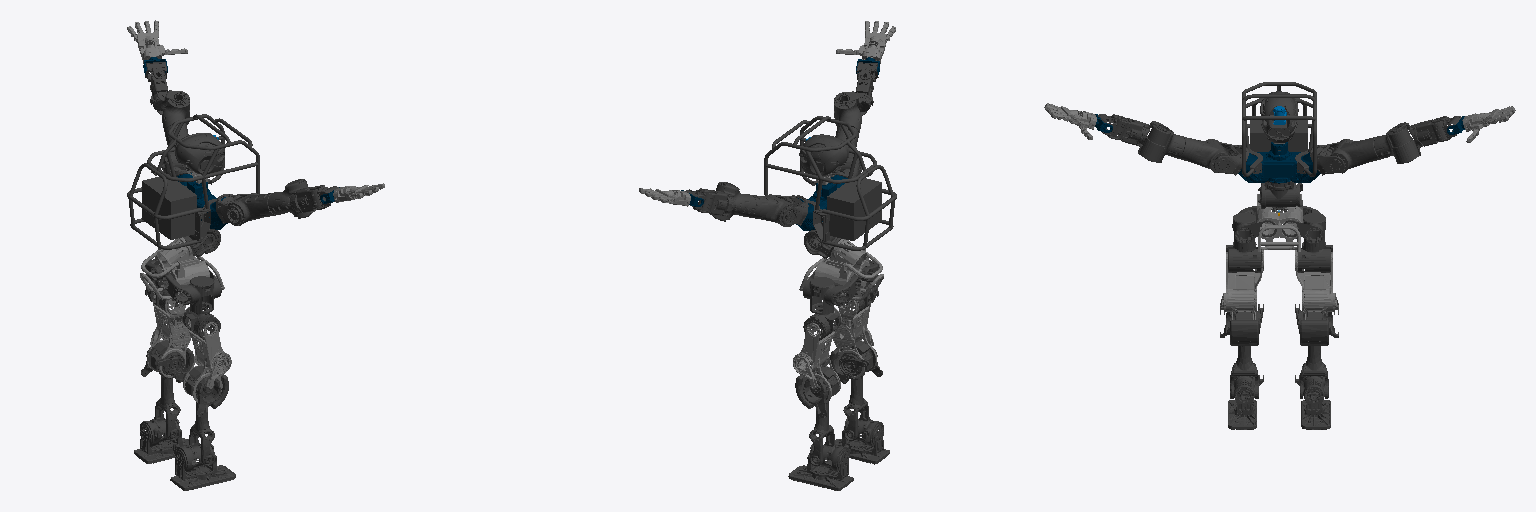
--- Render facts (derived) ---
Views: 3 orthographic renders of the robot side by side, from view 1: azimuth 30°, elevation 25°; view 2: azimuth 150°, elevation 25°; view 3: azimuth 270°, elevation 25°.
Robot: bigman — 74 links, 73 joints (31 revolute, 42 fixed); root link Waist; default pose: all joints at 0 but 2 set to mid-range because 0 is outside their limits (RShLat = -1.99, LShLat = 1.97).
Visible links, largest first — view 1: TorsoProtections, backpack, Waist, LLowLeg, RLowLeg, RThighLowLeg, LThighLowLeg, RHipMot, RFoot, multisense/head, LFoot, LSoftHandLink (+8 smaller); view 2: TorsoProtections, backpack, Waist, RLowLeg, LLowLeg, LThighLowLeg, RThighLowLeg, LHipMot, LFoot, multisense/head, RFoot, RSoftHandLink (+8 smaller); view 3: TorsoProtections, RLowLeg, LLowLeg, DWYTorso, Waist, RThighLowLeg, LThighLowLeg, multisense/head, RShy, LShy, RHipMot, LHipMot (+14 smaller).
Link boxes in pixels (x1=…): TorsoProtections: x1=127, y1=114, x2=259, y2=249; backpack: x1=142, y1=174, x2=196, y2=239; Waist: x1=140, y1=237, x2=224, y2=300; LLowLeg: x1=141, y1=340, x2=193, y2=440; RLowLeg: x1=173, y1=366, x2=228, y2=465; RThighLowLeg: x1=182, y1=307, x2=231, y2=402; LThighLowLeg: x1=147, y1=293, x2=190, y2=377; RHipMot: x1=163, y1=268, x2=221, y2=313; RFoot: x1=170, y1=449, x2=235, y2=490; multisense/head: x1=175, y1=133, x2=224, y2=174; LFoot: x1=134, y1=423, x2=188, y2=463; LSoftHandLink: x1=127, y1=20, x2=187, y2=63; TorsoProtections: x1=764, y1=116, x2=896, y2=250; backpack: x1=827, y1=176, x2=881, y2=240; Waist: x1=799, y1=239, x2=883, y2=300; RLowLeg: x1=830, y1=341, x2=882, y2=440; LLowLeg: x1=795, y1=366, x2=850, y2=466; LThighLowLeg: x1=793, y1=307, x2=841, y2=402; RThighLowLeg: x1=833, y1=294, x2=876, y2=378; LHipMot: x1=803, y1=271, x2=860, y2=314; LFoot: x1=788, y1=449, x2=853, y2=490; multisense/head: x1=799, y1=134, x2=848, y2=175; RFoot: x1=835, y1=424, x2=889, y2=464; RSoftHandLink: x1=836, y1=21, x2=895, y2=63; TorsoProtections: x1=1240, y1=82, x2=1317, y2=176; RLowLeg: x1=1220, y1=304, x2=1263, y2=398; LLowLeg: x1=1295, y1=304, x2=1338, y2=398; DWYTorso: x1=1238, y1=142, x2=1320, y2=183; Waist: x1=1255, y1=194, x2=1302, y2=251; RThighLowLeg: x1=1220, y1=250, x2=1263, y2=319; LThighLowLeg: x1=1295, y1=250, x2=1338, y2=319; multisense/head: x1=1260, y1=91, x2=1298, y2=142; RShy: x1=1140, y1=125, x2=1184, y2=162; LShy: x1=1374, y1=126, x2=1418, y2=163; RHipMot: x1=1232, y1=206, x2=1276, y2=251; LHipMot: x1=1282, y1=206, x2=1325, y2=251.
Bounding box of the posed robot: 0.8449 × 2.44 × 1.98 m (x, y, z).
Meshes: 23 distinct files referenced, 37 mesh visuals loaded (23 binary STL).

robot.urdf — bigman:
<?xml version="1.0" ?>
<!-- =================================================================================== -->
<!-- |    This document was autogenerated by xacro from bigman_robot.urdf.xacro        | -->
<!-- |    EDITING THIS FILE BY HAND IS NOT RECOMMENDED                                 | -->
<!-- =================================================================================== -->
<robot name="bigman" xmlns:xacro="http://ros.org/wiki/xacro">
  <!--
  ROS urdf definition of the BIGMAN humanoid robot by Istituto Italiano di Tecnologia
  
  Author: Enrico Mingo
  
  This file groups files to use BIGMAN in GAZEBO
  
  -->
  <!-- Uncomment this to have the robot rigidly connected to the world -->
  <!--link name="world"--> <!-- if you put mass/inertia to 0 for the base_link in pybullet then the robot will not be affected by gravity (i.e. it will float)>
    <inertial>
      <origin rpy="0.0 0.0 0.0" xyz="0.0 0.0 0.0"/>
      <mass value="0.0"/>
      <inertia ixx="0.0" ixy="0.0" ixz="0.0" iyy="0.0" iyz="0.0" izz="0.0"/>
    </inertial>
  </link>
  <joint name="floating_base" type="fixed">
    <parent link="world"/>
    <child link="base_link"/>
  </joint>
  <origin rpy="0 0 0" xyz="0.0 0.0 1.15"/-->
  <!-- ROBOT -->
  <!-- 
  ROS urdf definition of the BIGMAN humanoid robot by Istituto Italiano di Tecnologia
  
  DO NOT INCLUDE THIS FILE DIRECTLY! USE bigman_robot.urdf.xacro INSTEAD!

  Author: Enrico Mingo & Alessio Rocchi

  Inertial matrix has to be in CoM frame (URDF specs)

  Velocity and effort limits are fake!
-->
  <!-- Import all Gazebo-customization elements, including Gazebo colors -->
  <!-- contact model for foot surface -->
  <gazebo reference="LFoot">
    <kp>1000000.0</kp>
    <kd>100.0</kd>
    <mu1>1.0</mu1>
    <mu2>1.0</mu2>
    <fdir1>1 0 0</fdir1>
    <maxVel>1.0</maxVel>
    <minDepth>0.0</minDepth>
    <!--self_collide>true</self_collide-->
  </gazebo>
  <gazebo reference="RFoot">
    <kp>1000000.0</kp>
    <kd>100.0</kd>
    <mu1>1.0</mu1>
    <mu2>1.0</mu2>
    <fdir1>1 0 0</fdir1>
    <maxVel>1.0</maxVel>
    <minDepth>0.0</minDepth>
    <!--self_collide>true</self_collide-->
  </gazebo>
  <gazebo reference="LLowLeg">
    <kp>1000000.0</kp>
    <kd>100.0</kd>
    <mu1>0.3</mu1>
    <mu2>0.3</mu2>
    <fdir1>1 0 0</fdir1>
    <maxVel>1.0</maxVel>
    <minDepth>0.0</minDepth>
  </gazebo>
  <gazebo reference="RLowLeg">
    <kp>1000000.0</kp>
    <kd>100.0</kd>
    <mu1>0.3</mu1>
    <mu2>0.3</mu2>
    <fdir1>1 0 0</fdir1>
    <maxVel>1.0</maxVel>
    <minDepth>0.0</minDepth>
  </gazebo>
  <!-- contact model for hand surface -->
  <gazebo reference="LSoftHand">
    <kp>1000000.0</kp>
    <kd>100.0</kd>
    <mu1>1.0</mu1>
    <mu2>1.0</mu2>
    <fdir1>1 0 0</fdir1>
    <maxVel>1.0</maxVel>
    <minDepth>0.0</minDepth>
  </gazebo>
  <gazebo reference="RSoftHand">
    <kp>1000000.0</kp>
    <kd>100.0</kd>
    <mu1>1.0</mu1>
    <mu2>1.0</mu2>
    <fdir1>1 0 0</fdir1>
    <maxVel>1.0</maxVel>
    <minDepth>0.0</minDepth>
  </gazebo>
  <gazebo reference="LRaisingSupport">
    <kp>1000000.0</kp>
    <kd>100.0</kd>
    <mu1>0.5</mu1>
    <mu2>0.5</mu2>
    <fdir1>1 0 0</fdir1>
    <maxVel>1.0</maxVel>
    <minDepth>0.0</minDepth>
  </gazebo>
  <gazebo reference="RRaisingSupport">
    <kp>1000000.0</kp>
    <kd>100.0</kd>
    <mu1>0.5</mu1>
    <mu2>0.5</mu2>
    <fdir1>1 0 0</fdir1>
    <maxVel>1.0</maxVel>
    <minDepth>0.0</minDepth>
  </gazebo>
  <!-- Other parameters... -->
  <gazebo reference="RHipSag">
    <implicitSpringDamper>1</implicitSpringDamper>
    <provideFeedback>true</provideFeedback>
  </gazebo>
  <gazebo reference="RHipLat">
    <implicitSpringDamper>1</implicitSpringDamper>
    <provideFeedback>true</provideFeedback>
  </gazebo>
  <gazebo reference="RHipYaw">
    <implicitSpringDamper>1</implicitSpringDamper>
    <provideFeedback>true</provideFeedback>
  </gazebo>
  <gazebo reference="RKneeSag">
    <implicitSpringDamper>1</implicitSpringDamper>
    <provideFeedback>true</provideFeedback>
  </gazebo>
  <gazebo reference="RAnkLat">
    <implicitSpringDamper>1</implicitSpringDamper>
    <provideFeedback>true</provideFeedback>
  </gazebo>
  <gazebo reference="RAnkSag">
    <implicitSpringDamper>1</implicitSpringDamper>
    <provideFeedback>true</provideFeedback>
  </gazebo>
  <gazebo reference="LHipSag">
    <implicitSpringDamper>1</implicitSpringDamper>
    <provideFeedback>true</provideFeedback>
  </gazebo>
  <gazebo reference="LHipLat">
    <implicitSpringDamper>1</implicitSpringDamper>
    <provideFeedback>true</provideFeedback>
  </gazebo>
  <gazebo reference="LHipYaw">
    <implicitSpringDamper>1</implicitSpringDamper>
    <provideFeedback>true</provideFeedback>
  </gazebo>
  <gazebo reference="LKneeSag">
    <implicitSpringDamper>1</implicitSpringDamper>
    <provideFeedback>true</provideFeedback>
  </gazebo>
  <gazebo reference="LAnkLat">
    <implicitSpringDamper>1</implicitSpringDamper>
    <provideFeedback>true</provideFeedback>
  </gazebo>
  <gazebo reference="LAnkSag">
    <implicitSpringDamper>1</implicitSpringDamper>
    <provideFeedback>true</provideFeedback>
  </gazebo>
  <gazebo reference="WaistSag">
    <implicitSpringDamper>1</implicitSpringDamper>
    <provideFeedback>true</provideFeedback>
  </gazebo>
  <gazebo reference="WaistLat">
    <implicitSpringDamper>1</implicitSpringDamper>
    <provideFeedback>true</provideFeedback>
  </gazebo>
  <gazebo reference="WaistYaw">
    <implicitSpringDamper>1</implicitSpringDamper>
    <provideFeedback>true</provideFeedback>
  </gazebo>
  <gazebo reference="RShSag">
    <implicitSpringDamper>1</implicitSpringDamper>
    <provideFeedback>true</provideFeedback>
  </gazebo>
  <gazebo reference="RShLat">
    <implicitSpringDamper>1</implicitSpringDamper>
    <provideFeedback>true</provideFeedback>
  </gazebo>
  <gazebo reference="RShYaw">
    <implicitSpringDamper>1</implicitSpringDamper>
    <provideFeedback>true</provideFeedback>
  </gazebo>
  <gazebo reference="RElbj">
    <implicitSpringDamper>1</implicitSpringDamper>
    <provideFeedback>true</provideFeedback>
  </gazebo>
  <gazebo reference="RForearmPlate">
    <implicitSpringDamper>1</implicitSpringDamper>
    <provideFeedback>true</provideFeedback>
  </gazebo>
  <gazebo reference="RWrj1">
    <implicitSpringDamper>1</implicitSpringDamper>
    <provideFeedback>true</provideFeedback>
  </gazebo>
  <gazebo reference="RWrj2">
    <implicitSpringDamper>1</implicitSpringDamper>
    <provideFeedback>true</provideFeedback>
  </gazebo>
  <gazebo reference="LShSag">
    <implicitSpringDamper>1</implicitSpringDamper>
    <provideFeedback>true</provideFeedback>
  </gazebo>
  <gazebo reference="LShLat">
    <implicitSpringDamper>1</implicitSpringDamper>
    <provideFeedback>true</provideFeedback>
  </gazebo>
  <gazebo reference="LShYaw">
    <implicitSpringDamper>1</implicitSpringDamper>
    <provideFeedback>true</provideFeedback>
  </gazebo>
  <gazebo reference="LElbj">
    <implicitSpringDamper>1</implicitSpringDamper>
    <provideFeedback>true</provideFeedback>
  </gazebo>
  <gazebo reference="LForearmPlate">
    <implicitSpringDamper>1</implicitSpringDamper>
    <provideFeedback>true</provideFeedback>
  </gazebo>
  <gazebo reference="LWrj1">
    <implicitSpringDamper>1</implicitSpringDamper>
    <provideFeedback>true</provideFeedback>
  </gazebo>
  <gazebo reference="LWrj2">
    <implicitSpringDamper>1</implicitSpringDamper>
    <provideFeedback>true</provideFeedback>
  </gazebo>
  <!-- ************ MODEL CONFIGURATION ************ -->
  <!--
####################################################
##
##  BIGMAN_UPPER_BODY
##  if "true" the kinematic chains of the arms and torso 
##  will be used to generate the model
##
####################################################
-->
  <!--
####################################################
##
##  BIGMAN_LEGS
##  if "true" the kinematic chains of the legs
##  will be used to generate the model
##
####################################################
-->
  <!--
####################################################
##
##  BIGMAN_OLD_CHEST
##  if "true" the old version of the chest will be
##  used.
##  
##
####################################################
-->
  <!--
####################################################
##
##  BIGMAN_FIXED_HANDS
##  if "true" a fixed joint between wrist and hand 
##  will be used otherwise a rotative joints will
##  be used.
##  
##
####################################################
-->
  <!--
####################################################
##
##  BIGMAN_FIXED_MULTISENSE
##  if "true" a fixed joint between "head" and 
##  "hokuyo_link" will be used otherwise a continuous 
##  joints will be used.
##  
##
####################################################
-->
  <!--
####################################################
##
##  BIGMAN_HEAD
##  if "true" a fixed joint between "NeckPitch" and
##  "head" will be used to connect the head to the rest
##  of the body. If "false" the head will not be added 
##  to the model (this is the case when the multisense
##  from the launch file is used). 
##  
##
####################################################
-->
  <!--
####################################################
##
##  BIGMAN_ADD_PROTECTIONS
##  if "true" the protections are added to the model.
##  
##
####################################################
-->
  <!--
####################################################
##
##  BIGMAN_ADD_BACKPACK
##  if "true" the backpack is added to the model.
##  
##
####################################################
-->
  <!--
####################################################
##
##  BIGMAN_ADD_RAISING_SUPPORT
##  if "true" the raising support are added to the model.
##  
##
####################################################
-->
  <!--
####################################################
##
##  BIGMAN_NEW_FEET
##  if "true" the new feet with the joint in the middle
##  are used to the model.
##  
##
####################################################
-->
  <!--
####################################################
##
##  BIGMAN_SAFETY_JOINT_LIMITS_X
##  if "true" the more strict joint limits are used 
##  for the X part
##  
##
####################################################
-->
  <!-- ***********  MODEL COLORS *********** -->
  <material name="grey">
    <color rgba="0.5 0.5 0.5 1"/>
  </material>
  <material name="dark_grey">
    <color rgba="0.3 0.3 0.3 1"/>
  </material>
  <material name="blue">
    <color rgba="0.0 0.2 0.3 1"/>
  </material>
  <!-- ************ BIGMAN BASE ************** -->
  <!-- 
  ROS urdf definition of the BIGMAN humanoid robot by Istituto Italiano di Tecnologia
  
  DO NOT INCLUDE THIS FILE DIRECTLY! USE bigman_robot.urdf.xacro INSTEAD!

  Author: Enrico Mingo & Alessio Rocchi

  Inertial matrix has to be in CoM frame (URDF specs)

  Velocity and effort limits are fake!
-->
  <!--
The coordinate frame called base_link is rigidly attached to the robot root body. It is recommended to choose the robot waist as its root body. The base_link can be attached to the root in any arbitrary position or orientation; for every hardware platform there will be a different place on the base that provides an obvious point of reference. Note that REP 103 [1] specifies a preferred orientation for frames. -->
  <!--link name="base_link"/--> <!-- if you put mass/inertia to 0 for the base_link in pybullet then the robot will not be affected by gravity (i.e. it will float). Just removing the base_link fixes the problem. -->
  <link name="Waist">
    <inertial>
      <origin rpy="0.0 0.0 0.0" xyz="-0.022813402 -0.00073935443 0.030422909"/>
      <mass value="1.1046081e+01"/>
      <inertia ixx="0.096207978" ixy="0.00014081043" ixz="0.0031258127" iyy="0.098511158" iyz="0.00013938149" izz="0.086541531"/>
    </inertial>
    <visual>
      <origin rpy="0 0 0" xyz="0 0 0"/>
      <geometry name="Waist_visual">
        <mesh filename="meshes/Waist.STL" scale="0.001 0.001 0.001"/>
      </geometry>
      <material name="grey"/>
    </visual>
    <collision>
      <origin rpy="0 0 0" xyz="0 0 0"/>
      <geometry name="Waist_collision">
        <mesh filename="meshes/simple/Waist.STL" scale="0.001 0.001 0.001"/>
      </geometry>
    </collision>
  </link>
  <!--joint name="base_joint" type="fixed">
    <parent link="base_link"/>
    <child link="Waist"/>
    <origin rpy="0 0 0" xyz="0 0 0"/>
  </joint-->
  <!-- ********************TORSO******************** -->
  <!-- first real link of the robot, inertial reference frame -->
  <!-- Scale factor for meshes -->
  <!-- LINKS -->
  <!-- This links are defined in order to be compliant with http://www.ros.org/reps/rep-0120.html#coordinate-frames
and to define the end effectors of the robot-->
  <!-- The coordinate frame called torso is attached to the lowest body of the model which is a parent of l_gripper, r_gripper and gaze. -->
  <link name="torso">
    <inertial>
      <origin rpy="0 0 0" xyz="0 0 0"/>
      <mass value="0"/>
      <inertia ixx="0.0" ixy="0.0" ixz="0.0" iyy="0.0" iyz="0.0" izz="0.0"/>
    </inertial>
  </link> <!-- in pybullet, the inertia need to be specified even for dummy links, otherwise it will put an identity inertia and a mass of 1 by default -->
  <link name="DWL">
    <inertial>
      <origin rpy="0 0 0" xyz="-0.04610869 0.02232230 -0.02249514"/>
      <mass value="1.44965471"/>
      <inertia ixx="0.01096760" ixy="0.00111556" ixz="0.00030030" iyy="0.00409572" iyz="0.00054456" izz="0.01143795"/>
    </inertial>
    <visual>
      <origin rpy="0 0 0" xyz="0.0 0.0 0.0"/>
      <geometry name="DWL_visual">
        <mesh filename="meshes/TorsoRoll.STL" scale="0.001 0.001 0.001"/>
      </geometry>
      <material name="dark_grey"/>
    </visual>
    <collision>
      <origin rpy="0 0 0" xyz="0.0 0.0 0.0"/>
      <geometry name="DWL_collision">
        <mesh filename="meshes/simple/TorsoRoll.STL" scale="0.001 0.001 0.001"/>
      </geometry>
    </collision>
  </link>
  <link name="DWS">
    <inertial>
      <origin rpy="0 0 0" xyz="0.00010203 0.00928164 0.08113610"/>
      <mass value="5.28825567"/>
      <inertia ixx="0.01628069" ixy="-0.00000323" ixz="0.00001424" iyy="0.01424286" iyz="0.00075458" izz="0.00994169"/>
    </inertial>
    <visual>
      <origin rpy="0 0 0" xyz="0.0 0.0 0.0"/>
      <geometry name="DWS_visual">
        <mesh filename="meshes/TorsoYawPitch.STL" scale="0.001 0.001 0.001"/>
      </geometry>
      <material name="dark_grey"/>
    </visual>
    <collision>
      <origin rpy="0 0 0" xyz="0.0 0.0 0.0"/>
      <geometry name="DWS_collision">
        <mesh filename="meshes/simple/TorsoYawPitch.STL" scale="0.001 0.001 0.001"/>
      </geometry>
    </collision>
  </link>
  <link name="DWYTorso">
    <inertial>
      <origin rpy="0 0 0" xyz="0.0 0.0 0.3"/>
      <mass value="26"/>
      <inertia ixx="0.18629757" ixy="0.00008160" ixz="0.00030250" iyy="0.02013829" iyz="-0.00001790" izz="0.18850541"/>
    </inertial>
    <visual>
      <origin rpy="0 0 0" xyz="0.0 0.0 0.0"/>
      <geometry name="DWYTorso_visual">
        <mesh filename="meshes/NewChest.STL" scale="0.001 0.001 0.001"/>
      </geometry>
      <material name="blue"/>
    </visual>
    <collision>
      <origin rpy="0 0 0" xyz="0.0 0.0 0.0"/>
      <geometry name="DWYTorso_collision">
        <mesh filename="meshes/simple/NewChest.STL" scale="0.001 0.001 0.001"/>
      </geometry>
    </collision>
  </link>
  <!-- UPDATE DATA FOR TORSO PROTECTION! -->
  <link name="TorsoProtections">
    <inertial>
      <origin rpy="0 0 0" xyz="-0.082963193 7.0747291e-07 0.075409106"/>
      <mass value="4.7"/>
      <inertia ixx="0.14773769" ixy="0.0" ixz="-0.029780072" iyy="0.16085511" iyz="0.0" izz="0.15409381"/>
    </inertial>
    <visual>
      <origin rpy="0 0 0" xyz="0.0 0.0 0.0"/>
      <geometry name="TorsoProtections_visual">
        <mesh filename="meshes/ProtectionSystem.STL" scale="0.001 0.001 0.001"/>
      </geometry>
      <material name="dark_grey"/>
    </visual>
    <collision>
      <origin rpy="0 0 0" xyz="0.0 0.0 0.0"/>
      <geometry name="TorsoProtections_collision">
        <mesh filename="meshes/simple/ProtectionSystem.STL" scale="0.001 0.001 0.001"/>
      </geometry>
    </collision>
  </link>
  <!-- UPDATE DATA FOR TORSO PROTECTION! -->
  <link name="backpack">
    <inertial>
      <origin rpy="0 0 0" xyz="0 0 -0.065"/>
      <mass value="10.0"/>
      <inertia ixx="0.0890833333333" ixy="0.0" ixz="0.0" iyy="0.0354166666667" iyz="0.0" izz="0.0963333333333"/>
    </inertial>
    <visual>
      <origin rpy="0 0 0" xyz="0.0 0.0 0.0"/>
      <geometry name="backpack_visual">
        <box size="0.16 0.3 0.22"/>
      </geometry>
      <material name="dark_grey"/>
    </visual>
    <collision>
      <origin rpy="0 0 0" xyz="0.0 0.0 0.0"/>
      <geometry name="backpack_collision">
        <box size="0.16 0.3 0.22"/>
      </geometry>
    </collision>
  </link>
  <!-- JOINTS -->
  <joint name="backpack_joint" type="fixed">
    <parent link="DWYTorso"/>
    <child link="backpack"/>
    <origin rpy="0 0 0" xyz="-0.185 0 -0.025"/>
  </joint>
  <joint name="torso_protection_joint" type="fixed">
    <parent link="DWYTorso"/>
    <child link="TorsoProtections"/>
    <origin rpy="0 0 0" xyz="0.0 0 0.0"/>
  </joint>
  <joint name="torso_joint" type="fixed">
    <parent link="DWYTorso"/>
    <child link="torso"/>
    <origin rpy="0 0 0" xyz="0.0 0 0.0"/>
  </joint>
  <joint name="WaistLat" type="revolute">
    <parent link="Waist"/>
    <child link="DWL"/>
    <origin rpy="0 0 0" xyz="0.1115 0 0.195982"/>
    <axis xyz="0.89879991307 0 0.43835911792"/>
    <limit effort="500" lower="-0.610865238196" upper="0.610865238196" velocity="6.283"/>
    <dynamics damping="3.0" friction="0"/>
  </joint>
  <joint name="WaistSag" type="revolute">
    <parent link="DWL"/>
    <child link="DWS"/>
    <origin rpy="0 0 0" xyz="0 0 0"/>
    <axis xyz="0 1 0"/>
    <limit effort="500" lower="-0.349065850398" upper="1.39626340159" velocity="6.283"/>
    <dynamics damping="3.0" friction="0"/>
  </joint>
  <joint name="WaistYaw" type="revolute">
    <parent link="DWS"/>
    <child link="DWYTorso"/>
    <origin rpy="0 0 0" xyz="0 0 0.22275"/>
    <axis xyz="0 0 1"/>
    <limit effort="500" lower="-2.84488668074" upper="2.84488668074" velocity="6.283"/>
    <dynamics damping="3.0" friction="0"/>
  </joint>
  <!-- ********************NECK********************* -->
  <!-- LINKS -->
  <link name="NeckYaw">
    <inertial>
      <origin rpy="0 0 0" xyz="0.0 0.0 0.1155"/>
      <mass value="0.35"/>
      <inertia ixx="0.00032840119" ixy="0.0" ixz="0.0" iyy="7.0371675e-05" iyz="0.0" izz="0.00032840111"/>
    </inertial>
    <visual>
      <origin rpy="0 0 0" xyz="0.0 0.0 0.0"/>
      <geometry name="NeckYaw_visual">
        <mesh filename="meshes/NeckYaw.STL" scale="0.001 0.001 0.001"/>
      </geometry>
      <material name="grey"/>
    </visual>
    <collision>
      <origin rpy="0 0 0" xyz="0.0 0.0 0.0"/>
      <geometry name="NeckYaw_collision">
        <mesh filename="meshes/simple/NeckYaw.STL" scale="0.001 0.001 0.001"/>
      </geometry>
    </collision>
  </link>
  <link name="NeckPitch">
    <inertial>
      <origin rpy="0 0 0" xyz="-0.102 0.0 0.26575"/>
      <mass value="0.623"/>
      <inertia ixx="0.0010388333" ixy="0.0" ixz="0.0" iyy="0.00054689381" iyz="0.0" izz="0.00054689381"/>
    </inertial>
    <visual>
      <origin rpy="0 0 0" xyz="0.0 0.0 0.0"/>
      <geometry name="NeckPitch_visual">
        <mesh filename="meshes/NeckPitch.STL" scale="0.001 0.001 0.001"/>
      </geometry>
      <material name="grey"/>
    </visual>
    <collision>
      <origin rpy="0 0 0" xyz="0.0 0.0 0.0"/>
      <geometry name="NeckPitch_collision">
        <mesh filename="meshes/simple/NeckPitch.STL" scale="0.001 0.001 0.001"/>
      </geometry>
    </collision>
  </link>
  <!-- JOINTS -->
  <joint name="NeckYawj" type="revolute">
    <parent link="DWYTorso"/>
    <child link="NeckYaw"/>
    <origin rpy="0 0 0" xyz="0 0 0"/>
    <axis xyz="0 0 1"/>
    <!--     <limit velocity="6.283" effort="120" lower="${(-175.0)*toRad}" upper="${(175.0)*toRad}" /> -->
    <limit effort="120" lower="-0.610865238196" upper="0.610865238196" velocity="6.283"/>
    <dynamics damping="0.7" friction="0"/>
  </joint>
  <joint name="NeckPitchj" type="revolute">
    <parent link="NeckYaw"/>
    <child link="NeckPitch"/>
    <origin rpy="0 0 0" xyz="0 0 0.1155"/>
    <axis xyz="0 1 0"/>
    <!--limit velocity="6.283" effort="120" lower="${(-30.0)*toRad}" upper="${(70.0)*toRad}" /-->
    <limit effort="120" lower="-0.261799387798" upper="1.04719755119" velocity="6.283"/>
    <dynamics damping="0.7" friction="0"/>
  </joint>
  <!-- ********************LEGS******************** -->
  <!-- This links are defined in order to be compliant with http://www.ros.org/reps/rep-0120.html#coordinate-frames
	and to define the end effectors of the robot -->
  <!--  position and orientation of the leg regardless of the support body geometry -->
  <link name="l_ankle">
    <inertial>
      <origin rpy="0 0 0" xyz="0 0 0"/>
      <mass value="0"/>
      <inertia ixx="0.0" ixy="0.0" ixz="0.0" iyy="0.0" iyz="0.0" izz="0.0"/>
    </inertial>
  </link> <!-- in pybullet, the inertia need to be specified even for dummy links, otherwise it will put an identity inertia and a mass of 1 by default -->
  <link name="r_ankle">
    <inertial>
      <origin rpy="0 0 0" xyz="0 0 0"/>
      <mass value="0"/>
      <inertia ixx="0.0" ixy="0.0" ixz="0.0" iyy="0.0" iyz="0.0" izz="0.0"/>
    </inertial>
  </link> <!-- in pybullet, the inertia need to be specified even for dummy links, otherwise it will put an identity inertia and a mass of 1 by default -->
  <!-- position and orientation of the left leg support body. The (X,Y) plane of this frame must be coplanar with the support body contact surface. It is recommended to choose the origin as the projection of the support body origin on the contact surface. The Z coordinate of this frame should be on the ground level when standing. -->
  <link name="l_sole">
    <inertial>
      <origin rpy="0 0 0" xyz="0 0 0"/>
      <mass value="0"/>
      <inertia ixx="0.0" ixy="0.0" ixz="0.0" iyy="0.0" iyz="0.0" izz="0.0"/>
    </inertial>
  </link> <!-- in pybullet, the inertia need to be specified even for dummy links, otherwise it will put an identity inertia and a mass of 1 by default -->
  <link name="r_sole">
    <inertial>
      <origin rpy="0 0 0" xyz="0 0 0"/>
      <mass value="0"/>
      <inertia ixx="0.0" ixy="0.0" ixz="0.0" iyy="0.0" iyz="0.0" izz="0.0"/>
    </inertial>
  </link> <!-- in pybullet, the inertia need to be specified even for dummy links, otherwise it will put an identity inertia and a mass of 1 by default -->
  <!--  position and orientation of the leg toe body. The (X,Y) plan of this frame must be coplanar with the toe body contact surface. It is recommended to choose the origin as the projection of the body center on the contact surface. -->
  <link name="l_toe">
    <inertial>
      <origin rpy="0 0 0" xyz="0 0 0"/>
      <mass value="0"/>
      <inertia ixx="0.0" ixy="0.0" ixz="0.0" iyy="0.0" iyz="0.0" izz="0.0"/>
    </inertial>
  </link> <!-- in pybullet, the inertia need to be specified even for dummy links, otherwise it will put an identity inertia and a mass of 1 by default -->
  <link name="r_toe">
    <inertial>
      <origin rpy="0 0 0" xyz="0 0 0"/>
      <mass value="0"/>
      <inertia ixx="0.0" ixy="0.0" ixz="0.0" iyy="0.0" iyz="0.0" izz="0.0"/>
    </inertial>
  </link> <!-- in pybullet, the inertia need to be specified even for dummy links, otherwise it will put an identity inertia and a mass of 1 by default -->
  <!-- LINKS -->
  <!-- ********************RIGHT LEG******************** -->
  <link name="RHipMot">
    <inertial>
      <origin rpy="0 0 0" xyz="-0.10348188 -0.10919813 -0.064924056"/>
      <mass value="3.7958197"/>
      <inertia ixx="0.015639017" ixy="0.0018504661" ixz="0.0023907793" iyy="0.023519749" iyz="-0.0023303162" izz="0.020953643"/>
    </inertial>
    <visual>
      <origin rpy="0 0 0" xyz="0 0 0"/>
      <geometry name="RHipMot_visual">
        <mesh filename="meshes/HipRoll.STL" scale="0.001 0.001 0.001"/>
      </geometry>
      <material name="dark_grey"/>
    </visual>
    <collision>
      <origin rpy="0 0 0" xyz="0 0 0"/>
      <geometry name="RHipMot_collision">
        <mesh filename="meshes/simple/HipRoll.STL" scale="0.001 0.001 0.001"/>
      </geometry>
    </collision>
  </link>
  <link name="RThighUpLeg">
    <inertial>
      <origin rpy="0 0 0" xyz="-0.0052929709 -0.022561833 0.0056701669"/>
      <mass value="3.2402068"/>
      <inertia ixx="0.010102097" ixy="0.00010858487" ixz="0.00025291395" iyy="0.0067147" iyz="8.3447072e-05" izz="0.01048513"/>
    </inertial>
    <visual>
      <origin rpy="0 0 0" xyz="0 0 0"/>
      <geometry name="RThighUpLeg_visual">
        <mesh filename="meshes/HipYaw.STL" scale="0.001 0.001 0.001"/>
      </geometry>
      <material name="dark_grey"/>
    </visual>
    <collision>
      <origin rpy="0 0 0" xyz="0 0 0"/>
      <geometry name="RThighUpLeg_collision">
        <mesh filename="meshes/simple/HipYaw.STL" scale="0.001 0.001 0.001"/>
      </geometry>
    </collision>
  </link>
  <link name="RThighLowLeg">
    <inertial>
      <origin rpy="0 0 0" xyz="0.037746286 -0.028539939 -0.19310133"/>
      <mass value="5.0950736"/>
      <inertia ixx="0.051607858" ixy="0.0022253472" ixz="0.002452979" iyy="0.044349153" iyz="-0.0041006942" izz="0.023374453"/>
    </inertial>
    <visual>
      <origin rpy="0 0 0" xyz="0 0 0"/>
      <geometry name="RThighLowLeg_visual">
        <mesh filename="meshes/HipPitch.STL" scale="0.001 0.001 0.001"/>
      </geometry>
      <material name="grey"/>
    </visual>
    <collision>
      <origin rpy="0 0 0" xyz="0 0 0"/>
      <geometry name="RThighLowLeg_collision">
        <mesh filename="meshes/simple/HipPitch.STL" scale="0.001 0.001 0.001"/>
      </geometry>
    </collision>
  </link>
  <link name="RLowLeg">
    <inertial>
      <origin rpy="0 0 0" xyz="-0.0050828668 0.0037732093 -0.072605017"/>
      <mass value="5.6495309"/>
      <inertia ixx="0.10535542" ixy="-0.00058199221" ixz="0.0016743598" iyy="0.097857796" iyz="-0.0033770181" izz="0.020854086"/>
    </inertial>
    <visual>
      <origin rpy="0 0 0" xyz="0 0 0"/>
      <geometry name="RLowLeg_visual">
        <mesh filename="meshes/KneePitchCalf.STL" scale="0.001 0.001 0.001"/>
      </geometry>
      <material name="dark_grey"/>
    </visual>
    <collision>
      <origin rpy="0 0 0" xyz="0 0 0"/>
      <geometry name="RLowLeg_collision">
        <mesh filename="meshes/simple/KneePitchCalf.STL" scale="0.001 0.001 0.001"/>
      </geometry>
    </collision>
  </link>
  <link name="RFootmot">
    <inertial>
      <origin rpy="0 0 0" xyz="-0.022024173 0.0025677238 0.00094588455"/>
      <mass value="3.2844159"/>
      <inertia ixx="0.0075550679" ixy="0.00067488292" ixz="5.8332889e-05" iyy="0.011241163" iyz="-0.00014552081" izz="0.013391865"/>
    </inertial>
    <visual>
      <origin rpy="0 0 0" xyz="0 0 0"/>
      <geometry name="RFootmot_visual">
        <mesh filename="meshes/AnklePitch.STL" scale="0.001 0.001 0.001"/>
      </geometry>
      <material name="dark_grey"/>
    </visual>
    <collision>
      <origin rpy="0 0 0" xyz="0 0 0"/>
      <geometry name="RFootmot_collision">
        <mesh filename="meshes/simple/AnklePitch.STL" scale="0.001 0.001 0.001"/>
      </geometry>
    </collision>
  </link>
  <link name="RFoot">
    <inertial>
      <origin rpy="0 0 0" xyz="-0.00653584 -0.00479384 -0.10180375"/>
      <mass value="3.42638110"/>
      <inertia ixx="0.01032886" ixy="-0.00016407" ixz="-0.00201294" iyy="0.02854025" iyz="0.00046315" izz="0.02799499"/>
    </inertial>
    <visual>
      <origin rpy="0 0 0" xyz="0 0 0"/>
      <geometry name="RFoot_visual">
        <mesh filename="meshes/NewFoot.STL" scale="0.001 0.001 0.001"/>
      </geometry>
      <material name="dark_grey"/>
    </visual>
    <collision>
      <!--<origin xyz="0 0 0" rpy="0 0 0"/>
      <geometry name="RFoot_collision">
        <mesh filename="meshes/simple/Foot.STL" scale="0.001 -0.001 0.001"/>
      </geometry>-->
      <origin rpy="0 0 0" xyz="0.005 -0.01 -0.1359"/>
      <geometry>
        <box size="0.32 0.16 0.015"/>
      </geometry>
    </collision>
  </link>
  <!-- ********************LEFT LEG******************** -->
  <link name="LHipMot">
    <inertial>
      <origin rpy="0 0 0" xyz="-0.10348188 0.10919813 -0.064924056"/>
      <mass value="3.7958197"/>
      <inertia ixx="0.015639017" ixy="-0.0018504661" ixz="0.0023907793" iyy="0.023519749" iyz="0.0023303162" izz="0.020953643"/>
    </inertial>
    <visual>
      <origin rpy="0 0 0" xyz="0 0 0"/>
      <geometry name="LHipMot_visual">
        <mesh filename="meshes/HipRoll.STL" scale="0.001 -0.001 0.001"/>
      </geometry>
      <material name="dark_grey"/>
    </visual>
    <collision>
      <origin rpy="0 0 0" xyz="0 0 0"/>
      <geometry name="LHipMot_collision">
        <mesh filename="meshes/simple/HipRoll.STL" scale="0.001 -0.001 0.001"/>
      </geometry>
    </collision>
  </link>
  <link name="LThighUpLeg">
    <inertial>
      <origin rpy="0 0 0" xyz="-0.0052929709 0.022561833 0.0056701669"/>
      <mass value="3.2402068"/>
      <inertia ixx="0.010102097" ixy="-0.00010858487" ixz="0.00025291395" iyy="0.0067147" iyz="-8.3447072e-05" izz="0.01048513"/>
    </inertial>
    <visual>
      <origin rpy="0 0 0" xyz="0 0 0"/>
      <geometry name="LThighUpLeg_visual">
        <mesh filename="meshes/HipYaw.STL" scale="0.001 -0.001 0.001"/>
      </geometry>
      <material name="dark_grey"/>
    </visual>
    <collision>
      <origin rpy="0 0 0" xyz="0 0 0"/>
      <geometry name="LThighUpLeg_collision">
        <mesh filename="meshes/simple/HipYaw.STL" scale="0.001 -0.001 0.001"/>
      </geometry>
    </collision>
  </link>
  <link name="LThighLowLeg">
    <inertial>
      <origin rpy="0 0 0" xyz="0.037746286 0.028539939 -0.19310133"/>
      <mass value="5.0950736"/>
      <inertia ixx="0.051607858" ixy="-0.0022253472" ixz="0.002452979" iyy="0.044349153" iyz="0.0041006942" izz="0.023374453"/>
    </inertial>
    <visual>
      <origin rpy="0 0 0" xyz="0 0 0"/>
      <geometry name="LThighLowLeg_visual">
        <mesh filename="meshes/HipPitch.STL" scale="0.001 -0.001 0.001"/>
      </geometry>
      <material name="grey"/>
    </visual>
    <collision>
      <origin rpy="0 0 0" xyz="0 0 0"/>
      <geometry name="LThighLowLeg_collision">
        <mesh filename="meshes/simple/HipPitch.STL" scale="0.001 -0.001 0.001"/>
      </geometry>
    </collision>
  </link>
  <link name="LLowLeg">
    <inertial>
      <origin rpy="0 0 0" xyz="-0.0050828668 -0.0037732093 -0.072605017"/>
      <mass value="5.6495309"/>
      <inertia ixx="0.10535542" ixy="0.00058199221" ixz="0.0016743598" iyy="0.097857796" iyz="0.0033770181" izz="0.020854086"/>
    </inertial>
    <visual>
      <origin rpy="0 0 0" xyz="0 0 0"/>
      <geometry name="LLowLeg_visual">
        <mesh filename="meshes/KneePitchCalf.STL" scale="0.001 -0.001 0.001"/>
      </geometry>
      <material name="dark_grey"/>
    </visual>
    <collision>
      <origin rpy="0 0 0" xyz="0 0 0"/>
      <geometry name="LLowLeg_collision">
        <mesh filename="meshes/simple/KneePitchCalf.STL" scale="0.001 -0.001 0.001"/>
      </geometry>
    </collision>
  </link>
  <link name="LFootmot">
    <inertial>
      <origin rpy="0 0 0" xyz="-0.022024173 -0.0025677238 0.00094588455"/>
      <mass value="3.2844159"/>
      <inertia ixx="0.0075550679" ixy="-0.00067488292" ixz="5.8332889e-05" iyy="0.011241163" iyz="0.00014552081" izz="0.013391865"/>
    </inertial>
    <visual>
      <origin rpy="0 0 0" xyz="0 0 0"/>
      <geometry name="LFootmot_visual">
        <mesh filename="meshes/AnklePitch.STL" scale="0.001 -0.001 0.001"/>
      </geometry>
      <material name="dark_grey"/>
    </visual>
    <collision>
      <origin rpy="0 0 0" xyz="0 0 0"/>
      <geometry name="LFootmot_collision">
        <mesh filename="meshes/simple/AnklePitch.STL" scale="0.001 -0.001 0.001"/>
      </geometry>
    </collision>
  </link>
  <link name="LFoot">
    <inertial>
      <origin rpy="0 0 0" xyz="-0.00653584 0.00479384 -0.10180375"/>
      <mass value="3.42638110"/>
      <inertia ixx="0.01032886" ixy="-0.00016407" ixz="-0.00201294" iyy="0.02854025" iyz="0.00046315" izz="0.02799499"/>
    </inertial>
    <visual>
      <origin rpy="0 0 0" xyz="0 0 0"/>
      <geometry name="LFoot_visual">
        <mesh filename="meshes/NewFoot.STL" scale="0.001 -0.001 0.001"/>
      </geometry>
      <material name="dark_grey"/>
    </visual>
    <collision>
      <!--
      <origin xyz="0 0 0" rpy="0 0 0"/>
      <geometry name="LFoot_collision">
        <mesh filename="meshes/simple/Foot.STL" scale="0.001 0.001 0.001"/>
      </geometry>
      -->
      <origin rpy="0 0 0" xyz="0.005 0.01 -0.1359"/>
      <geometry>
        <box size="0.32 0.16 0.015"/>
      </geometry>
    </collision>
  </link>
  <!-- JOINTS -->
  <!-- ********************RIGHT LEG******************** -->
  <joint name="RHipLat" type="revolute">
    <parent link="Waist"/>
    <child link="RHipMot"/>
    <origin rpy="0 0 0" xyz="0.1059 -0.06 0.0"/>
    <axis xyz="1 0 0"/>
    <limit effort="220" lower="-0.87222" upper="0.697778" velocity="6.283"/>
    <dynamics damping="3.0" friction="0"/>
  </joint>
  <joint name="RHipYaw" type="revolute">
    <parent link="RHipMot"/>
    <child link="RThighUpLeg"/>
    <origin rpy="0 0 0" xyz="-0.0889 -0.121032 -0.217872"/>
    <axis xyz="0 0 1"/>
    <limit effort="120" lower="-1.57" upper="0.872222" velocity="6.283"/>
    <dynamics damping="3.0" friction="0"/>
  </joint>
  <joint name="RHipSag" type="revolute">
    <parent link="RThighUpLeg"/>
    <child link="RThighLowLeg"/>
    <origin rpy="0 0 0" xyz="0.0 0.0 0.0"/>
    <axis xyz="0 1 0"/>
    <limit effort="220" lower="-2.09333" upper="1.046667" velocity="6.283"/>
    <dynamics damping="3.0" friction="0"/>
  </joint>
  <joint name="RKneeSag" type="revolute">
    <parent link="RThighLowLeg"/>
    <child link="RLowLeg"/>
    <origin rpy="0 0 0" xyz="0.0 0.0 -0.356"/>
    <axis xyz="0 1 0"/>
    <limit effort="220" lower="0.0" upper="2.442222" velocity="6.283"/>
    <dynamics damping="3.0" friction="0"/>
  </joint>
  <joint name="RAnkSag" type="revolute">
    <parent link="RLowLeg"/>
    <child link="RFootmot"/>
    <origin rpy="0 0 0" xyz="0.0 0.0 -0.4"/>
    <axis xyz="0 1 0"/>
    <limit effort="220" lower="-1.39556" upper="0.697778" velocity="6.283"/>
    <dynamics damping="3.0" friction="0"/>
  </joint>
  <joint name="RAnkLat" type="revolute">
    <parent link="RFootmot"/>
    <child link="RFoot"/>
    <origin rpy="0 0 0" xyz="0.0 0.0 0.0"/>
    <axis xyz="1 0 0"/>
    <limit effort="120" lower="-0.785" upper="0.785" velocity="6.283"/>
    <dynamics damping="3.0" friction="0"/>
  </joint>
  <!-- ********************LEFT LEG******************** -->
  <joint name="LHipLat" type="revolute">
    <parent link="Waist"/>
    <child link="LHipMot"/>
    <origin rpy="0 0 0" xyz="0.1059 0.06 0.0"/>
    <axis xyz="1 0 0"/>
    <limit effort="220" lower="-0.697778" upper="0.87222" velocity="6.283"/>
    <dynamics damping="3.0" friction="0"/>
  </joint>
  <joint name="LHipYaw" type="revolute">
    <parent link="LHipMot"/>
    <child link="LThighUpLeg"/>
    <origin rpy="0 0 0" xyz="-0.0889 0.121032 -0.217872"/>
    <axis xyz="0 0 1"/>
    <limit effort="120" lower="-0.872222" upper="1.57" velocity="6.283"/>
    <dynamics damping="3.0" friction="0"/>
  </joint>
  <joint name="LHipSag" type="revolute">
    <parent link="LThighUpLeg"/>
    <child link="LThighLowLeg"/>
    <origin rpy="0 0 0" xyz="0.0 0.0 0.0"/>
    <axis xyz="0 1 0"/>
    <limit effort="220" lower="-2.09333" upper="1.046667" velocity="6.283"/>
    <dynamics damping="3.0" friction="0"/>
  </joint>
  <joint name="LKneeSag" type="revolute">
    <parent link="LThighLowLeg"/>
    <child link="LLowLeg"/>
    <origin rpy="0 0 0" xyz="0.0 0.0 -0.356"/>
    <axis xyz="0 1 0"/>
    <limit effort="220" lower="0.0" upper="2.442222" velocity="6.283"/>
    <dynamics damping="3.0" friction="0"/>
  </joint>
  <joint name="LAnkSag" type="revolute">
    <parent link="LLowLeg"/>
    <child link="LFootmot"/>
    <origin rpy="0 0 0" xyz="0.0 0.0 -0.4"/>
    <axis xyz="0 1 0"/>
    <limit effort="220" lower="-1.39556" upper="0.697778" velocity="6.283"/>
    <dynamics damping="3.0" friction="0"/>
  </joint>
  <joint name="LAnkLat" type="revolute">
    <parent link="LFootmot"/>
    <child link="LFoot"/>
    <origin rpy="0 0 0" xyz="0.0 0.0 0.0"/>
    <axis xyz="1 0 0"/>
    <limit effort="120" lower="-0.785" upper="0.785" velocity="6.283"/>
    <dynamics damping="3.0" friction="0"/>
  </joint>
  <joint name="l_ankle_joint" type="fixed">
    <parent link="LFoot"/>
    <child link="l_ankle"/>
    <origin rpy="0 0 0" xyz="0 0 0"/>
  </joint>
  <joint name="r_ankle_joint" type="fixed">
    <parent link="RFoot"/>
    <child link="r_ankle"/>
    <origin rpy="0 0 0" xyz="0 0 0"/>
  </joint>
  <joint name="l_sole_joint" type="fixed">
    <parent link="LFoot"/>
    <child link="l_sole"/>
    <origin rpy="0 0 0" xyz="0 0 -0.1435"/>
  </joint>
  <joint name="r_sole_joint" type="fixed">
    <parent link="RFoot"/>
    <child link="r_sole"/>
    <origin rpy="0 0 0" xyz="0 0 -0.1435"/>
  </joint>
  <joint name="l_toe_joint" type="fixed">
    <parent link="l_sole"/>
    <child link="l_toe"/>
    <origin rpy="0 0 0" xyz="0.16 0 0"/>
  </joint>
  <joint name="r_toe_joint" type="fixed">
    <parent link="r_sole"/>
    <child link="r_toe"/>
    <origin rpy="0 0 0" xyz="0.16 0 0"/>
  </joint>
  <!-- Reference frames in feet -->
  <!-- macro for reference frames in foot -->
  <!-- macro for one reference frame in foot -->
  <link name="l_foot_upper_right_link">
    <inertial>
      <origin rpy="0 0 0" xyz="0 0 0"/>
      <mass value="0"/>
      <inertia ixx="0.0" ixy="0.0" ixz="0.0" iyy="0.0" iyz="0.0" izz="0.0"/>
    </inertial>
  </link> <!-- in pybullet, the inertia need to be specified even for dummy links, otherwise it will put an identity inertia and a mass of 1 by default -->
  <joint name="l_foot_upper_right_joint" type="fixed">
    <origin rpy="0 0 0" xyz="0.16 -0.07 0"/>
    <parent link="l_sole"/>
    <child link="l_foot_upper_right_link"/>
  </joint>
  <!-- macro for one reference frame in foot -->
  <link name="l_foot_upper_left_link">
    <inertial>
      <origin rpy="0 0 0" xyz="0 0 0"/>
      <mass value="0"/>
      <inertia ixx="0.0" ixy="0.0" ixz="0.0" iyy="0.0" iyz="0.0" izz="0.0"/>
    </inertial>
  </link> <!-- in pybullet, the inertia need to be specified even for dummy links, otherwise it will put an identity inertia and a mass of 1 by default -->
  <joint name="l_foot_upper_left_joint" type="fixed">
    <origin rpy="0 0 0" xyz="0.16 0.09 0"/>
    <parent link="l_sole"/>
    <child link="l_foot_upper_left_link"/>
  </joint>
  <!-- macro for one reference frame in foot -->
  <link name="l_foot_lower_right_link">
    <inertial>
      <origin rpy="0 0 0" xyz="0 0 0"/>
      <mass value="0"/>
      <inertia ixx="0.0" ixy="0.0" ixz="0.0" iyy="0.0" iyz="0.0" izz="0.0"/>
    </inertial>
  </link> <!-- in pybullet, the inertia need to be specified even for dummy links, otherwise it will put an identity inertia and a mass of 1 by default -->
  <joint name="l_foot_lower_right_joint" type="fixed">
    <origin rpy="0 0 0" xyz="-0.16 -0.07 0"/>
    <parent link="l_sole"/>
    <child link="l_foot_lower_right_link"/>
  </joint>
  <!-- macro for one reference frame in foot -->
  <link name="l_foot_lower_left_link">
    <inertial>
      <origin rpy="0 0 0" xyz="0 0 0"/>
      <mass value="0"/>
      <inertia ixx="0.0" ixy="0.0" ixz="0.0" iyy="0.0" iyz="0.0" izz="0.0"/>
    </inertial>
  </link> <!-- in pybullet, the inertia need to be specified even for dummy links, otherwise it will put an identity inertia and a mass of 1 by default -->
  <joint name="l_foot_lower_left_joint" type="fixed">
    <origin rpy="0 0 0" xyz="-0.16 0.09 0"/>
    <parent link="l_sole"/>
    <child link="l_foot_lower_left_link"/>
  </joint>
  <!-- macro for reference frames in foot -->
  <!-- macro for one reference frame in foot -->
  <link name="r_foot_upper_right_link">
    <inertial>
      <origin rpy="0 0 0" xyz="0 0 0"/>
      <mass value="0"/>
      <inertia ixx="0.0" ixy="0.0" ixz="0.0" iyy="0.0" iyz="0.0" izz="0.0"/>
    </inertial>
  </link> <!-- in pybullet, the inertia need to be specified even for dummy links, otherwise it will put an identity inertia and a mass of 1 by default -->
  <joint name="r_foot_upper_right_joint" type="fixed">
    <origin rpy="0 0 0" xyz="0.16 0.07 0"/>
    <parent link="r_sole"/>
    <child link="r_foot_upper_right_link"/>
  </joint>
  <!-- macro for one reference frame in foot -->
  <link name="r_foot_upper_left_link">
    <inertial>
      <origin rpy="0 0 0" xyz="0 0 0"/>
      <mass value="0"/>
      <inertia ixx="0.0" ixy="0.0" ixz="0.0" iyy="0.0" iyz="0.0" izz="0.0"/>
    </inertial>
  </link> <!-- in pybullet, the inertia need to be specified even for dummy links, otherwise it will put an identity inertia and a mass of 1 by default -->
  <joint name="r_foot_upper_left_joint" type="fixed">
    <origin rpy="0 0 0" xyz="0.16 -0.09 0"/>
    <parent link="r_sole"/>
    <child link="r_foot_upper_left_link"/>
  </joint>
  <!-- macro for one reference frame in foot -->
  <link name="r_foot_lower_right_link">
    <inertial>
      <origin rpy="0 0 0" xyz="0 0 0"/>
      <mass value="0"/>
      <inertia ixx="0.0" ixy="0.0" ixz="0.0" iyy="0.0" iyz="0.0" izz="0.0"/>
    </inertial>
  </link> <!-- in pybullet, the inertia need to be specified even for dummy links, otherwise it will put an identity inertia and a mass of 1 by default -->
  <joint name="r_foot_lower_right_joint" type="fixed">
    <origin rpy="0 0 0" xyz="-0.16 0.07 0"/>
    <parent link="r_sole"/>
    <child link="r_foot_lower_right_link"/>
  </joint>
  <!-- macro for one reference frame in foot -->
  <link name="r_foot_lower_left_link">
    <inertial>
      <origin rpy="0 0 0" xyz="0 0 0"/>
      <mass value="0"/>
      <inertia ixx="0.0" ixy="0.0" ixz="0.0" iyy="0.0" iyz="0.0" izz="0.0"/>
    </inertial>
  </link> <!-- in pybullet, the inertia need to be specified even for dummy links, otherwise it will put an identity inertia and a mass of 1 by default -->
  <joint name="r_foot_lower_left_joint" type="fixed">
    <origin rpy="0 0 0" xyz="-0.16 -0.09 0"/>
    <parent link="r_sole"/>
    <child link="r_foot_lower_left_link"/>
  </joint>
  <!-- ********************ARMS******************** -->
  <!-- LINKS -->
  <!-- RIGHT ARM -->
  <link name="RShp">
    <inertial>
      <origin rpy="0 0 0" xyz="-0.00543349 -0.04480023 0.01581062"/>
      <mass value="1.81745527"/>
      <inertia ixx="0.00571053" ixy="0.00041083" ixz="-0.00005130" iyy="0.01126908" iyz="-0.00003461" izz="0.01371197"/>
    </inertial>
    <visual>
      <origin rpy="0 0 0" xyz="0 0 0"/>
      <geometry name="RShp_visual">
        <mesh filename="meshes/ShoulderPitch.STL" scale="0.001 0.001 0.001"/>
      </geometry>
      <material name="dark_grey"/>
    </visual>
    <collision>
      <origin rpy="0 0 0" xyz="0 0 0"/>
      <geometry name="RShp_collision">
        <mesh filename="meshes/simple/ShoulderPitch.STL" scale="0.001 0.001 0.001"/>
      </geometry>
    </collision>
  </link>
  <link name="RShr">
    <inertial>
      <origin rpy="0 0 0" xyz="0.00729315 0.00002698 -0.07529696"/>
      <mass value="5.00486460"/>
      <inertia ixx="0.01644345" ixy="-0.00001187" ixz="-0.00010546" iyy="0.01804804" iyz="-0.00000565" izz="0.00802420"/>
    </inertial>
    <visual>
      <origin rpy="0 0 0" xyz="0 0 0"/>
      <geometry name="RShr_visual">
        <mesh filename="meshes/TopUpperArm.STL" scale="0.001 0.001 0.001"/>
      </geometry>
      <material name="dark_grey"/>
    </visual>
    <collision>
      <origin rpy="0 0 0" xyz="0 0 0"/>
      <geometry name="RShr_collision">
        <mesh filename="meshes/simple/TopUpperArm.STL" scale="0.001 0.001 0.001"/>
      </geometry>
    </collision>
  </link>
  <link name="RShy">
    <inertial>
      <origin rpy="0 0 0" xyz="0.02765373 -0.03258647 -0.12698781"/>
      <mass value="3.20289133"/>
      <inertia ixx="0.01129046" ixy="0.00013518" ixz="-0.00134760" iyy="0.00984951" iyz="-0.00026836" izz="0.00728549"/>
    </inertial>
    <visual>
      <origin rpy="0 0 0" xyz="0 0 0"/>
      <geometry name="RShy_visual">
        <mesh filename="meshes/BottomUpperArm.STL" scale="0.001 0.001 0.001"/>
      </geometry>
      <material name="dark_grey"/>
    </visual>
    <collision>
      <origin rpy="0 0 0" xyz="0 0 0"/>
      <geometry name="RShy_collision">
        <mesh filename="meshes/simple/BottomUpperArm.STL" scale="0.001 0.001 0.001"/>
      </geometry>
    </collision>
  </link>
  <link name="RElb">
    <inertial>
      <origin rpy="0 0 0" xyz="-0.055754915 -0.007582604 -0.043820396"/>
      <mass value="8.6765385e-01"/>
      <inertia ixx="0.0040395238" ixy="0.00034973136" ixz="-0.00068400465" iyy="0.0022460561" iyz="0.00028844444" izz="0.0044895027"/>
    </inertial>
    <visual>
      <origin rpy="0 0 0" xyz="0 0 0"/>
      <geometry name="RElb_visual">
        <mesh filename="meshes/Elbow.STL" scale="0.001 0.001 0.001"/>
      </geometry>
      <material name="dark_grey"/>
    </visual>
    <collision>
      <origin rpy="0 0 0" xyz="0 0 0"/>
      <geometry name="RElb_collision">
        <mesh filename="meshes/simple/Elbow.STL" scale="0.001 0.001 0.001"/>
      </geometry>
    </collision>
  </link>
  <!-- LEFT ARM -->
  <link name="LShp">
    <inertial>
      <origin rpy="0 0 0" xyz="-0.00543349 0.04480023 0.01581062"/>
      <mass value="1.81745527"/>
      <inertia ixx="0.00571053" ixy="-0.00041083" ixz="-0.00005130" iyy="0.01126908" iyz="0.00003461" izz="0.01371197"/>
    </inertial>
    <visual>
      <origin rpy="0 0 0" xyz="0 0 0"/>
      <geometry name="LShp_visual">
        <mesh filename="meshes/ShoulderPitch.STL" scale="0.001 -0.001 0.001"/>
      </geometry>
      <material name="dark_grey"/>
    </visual>
    <collision>
      <origin rpy="0 0 0" xyz="0 0 0"/>
      <geometry name="LShp_collision">
        <mesh filename="meshes/simple/ShoulderPitch.STL" scale="0.001 -0.001 0.001"/>
      </geometry>
    </collision>
  </link>
  <link name="LShr">
    <inertial>
      <origin rpy="0 0 0" xyz="0.00729315 -0.00002698 -0.07529696"/>
      <mass value="5.00486460"/>
      <inertia ixx="0.01644345" ixy="0.00001187" ixz="-0.00010546" iyy="0.01804804" iyz="0.00000565" izz="0.00802420"/>
    </inertial>
    <visual>
      <origin rpy="0 0 0" xyz="0 0 0"/>
      <geometry name="LShr_visual">
        <mesh filename="meshes/TopUpperArm.STL" scale="0.001 -0.001 0.001"/>
      </geometry>
      <material name="dark_grey"/>
    </visual>
    <collision>
      <origin rpy="0 0 0" xyz="0 0 0"/>
      <geometry name="LShr_collision">
        <mesh filename="meshes/simple/TopUpperArm.STL" scale="0.001 -0.001 0.001"/>
      </geometry>
    </collision>
  </link>
  <link name="LShy">
    <inertial>
      <origin rpy="0 0 0" xyz="0.02765373 0.03258647 -0.12698781"/>
      <mass value="3.20289133"/>
      <inertia ixx="0.01129046" ixy="-0.00013518" ixz="-0.00134760" iyy="0.00984951" iyz="0.00026836" izz="0.00728549"/>
    </inertial>
    <visual>
      <origin rpy="0 0 0" xyz="0 0 0"/>
      <geometry name="LShy_visual">
        <mesh filename="meshes/BottomUpperArm.STL" scale="0.001 -0.001 0.001"/>
      </geometry>
      <material name="dark_grey"/>
    </visual>
    <collision>
      <origin rpy="0 0 0" xyz="0 0 0"/>
      <geometry name="LShy_collision">
        <mesh filename="meshes/simple/BottomUpperArm.STL" scale="0.001 -0.001 0.001"/>
      </geometry>
    </collision>
  </link>
  <link name="LElb">
    <inertial>
      <origin rpy="0 0 0" xyz="-0.055754915 0.007582604 -0.043820396"/>
      <mass value="8.6765385e-01"/>
      <inertia ixx="0.0040395238" ixy="-0.00034973136" ixz="-0.00068400465" iyy="0.0022460561" iyz="-0.00028844444" izz="0.0044895027"/>
    </inertial>
    <visual>
      <origin rpy="0 0 0" xyz="0 0 0"/>
      <geometry name="LElb_visual">
        <mesh filename="meshes/Elbow.STL" scale="0.001 -0.001 0.001"/>
      </geometry>
      <material name="dark_grey"/>
    </visual>
    <collision>
      <origin rpy="0 0 0" xyz="0 0 0"/>
      <geometry name="LElb_collision">
        <mesh filename="meshes/simple/Elbow.STL" scale="0.001 -0.001 0.001"/>
      </geometry>
    </collision>
  </link>
  <!-- JOINTS -->
  <!-- RIGHT ARM -->
  <joint name="RShSag" type="revolute">
    <parent link="DWYTorso"/>
    <child link="RShp"/>
    <origin rpy="0 0 0.3491" xyz="0.045646 -0.219164 0.001531"/>
    <axis xyz="0 0.743144825 -0.669130606"/>
    <limit effort="120" lower="-2.84488668074" upper="2.8099800957" velocity="6.283"/>
    <dynamics damping="3.0" friction="0"/>
  </joint>
  <joint name="RShLat" type="revolute">
    <parent link="RShp"/>
    <child link="RShr"/>
    <origin rpy="0 0 0" xyz="0.0 -0.116568264 0.03364"/>
    <axis xyz="1 0 0"/>
    <limit effort="120" lower="-3.8571776469" upper="-0.122173047639" velocity="6.283"/>
    <dynamics damping="3.0" friction="0"/>
  </joint>
  <joint name="RShYaw" type="revolute">
    <parent link="RShr"/>
    <child link="RShy"/>
    <origin rpy="0 0 0" xyz="0.0 0.0 -0.222"/>
    <axis xyz="0 0 1"/>
    <limit effort="120" lower="-2.86233997326" upper="2.82743338822" velocity="6.283"/>
    <dynamics damping="3.0" friction="0"/>
  </joint>
  <joint name="RElbj" type="revolute">
    <parent link="RShy"/>
    <child link="RElb"/>
    <origin rpy="0 0 0" xyz="0.036 0.0 -0.15"/>
    <axis xyz="0 1 0"/>
    <limit effort="60" lower="-2.96705972838" upper="0.593411945677" velocity="6.283"/>
    <dynamics damping="3.0" friction="0"/>
  </joint>
  <!-- LEFT ARM -->
  <joint name="LShSag" type="revolute">
    <parent link="DWYTorso"/>
    <child link="LShp"/>
    <origin rpy="0 0 -0.3491" xyz="0.045646 0.219164 0.001531"/>
    <axis xyz="0.0 0.743144825 0.669130606"/>
    <limit effort="120" lower="-2.87979326578" upper="2.79252680318" velocity="6.283"/>
    <dynamics damping="3.0" friction="0"/>
  </joint>
  <joint name="LShLat" type="revolute">
    <parent link="LShp"/>
    <child link="LShr"/>
    <origin rpy="0 0 0" xyz="0.0 0.116568264 0.03364"/>
    <axis xyz="1 0 0"/>
    <limit effort="120" lower="0.0872664625995" upper="3.8571776469" velocity="6.283"/>
    <dynamics damping="3.0" friction="0"/>
  </joint>
  <joint name="LShYaw" type="revolute">
    <parent link="LShr"/>
    <child link="LShy"/>
    <origin rpy="0 0 0" xyz="0.0 0.0 -0.222"/>
    <axis xyz="0 0 1"/>
    <limit effort="120" lower="-2.84488668074" upper="2.84488668074" velocity="6.283"/>
    <dynamics damping="3.0" friction="0"/>
  </joint>
  <joint name="LElbj" type="revolute">
    <parent link="LShy"/>
    <child link="LElb"/>
    <origin rpy="0 0 0" xyz="0.036 0.0 -0.15"/>
    <axis xyz="0 1 0"/>
    <limit effort="60" lower="-2.96705972838" upper="0.593411945677" velocity="6.283"/>
    <dynamics damping="3.0" friction="0"/>
  </joint>
  <!-- ***** LEGS F/T SENSOR REF FRAMES *******-->
  <link name="l_leg_ft">
    <inertial>
      <origin rpy="0 0 0" xyz="0 0 0"/>
      <mass value="0"/>
      <inertia ixx="0.0" ixy="0.0" ixz="0.0" iyy="0.0" iyz="0.0" izz="0.0"/>
    </inertial>
  </link> <!-- in pybullet, the inertia need to be specified even for dummy links, otherwise it will put an identity inertia and a mass of 1 by default -->
  <link name="r_leg_ft">
    <inertial>
      <origin rpy="0 0 0" xyz="0 0 0"/>
      <mass value="0"/>
      <inertia ixx="0.0" ixy="0.0" ixz="0.0" iyy="0.0" iyz="0.0" izz="0.0"/>
    </inertial>
  </link> <!-- in pybullet, the inertia need to be specified even for dummy links, otherwise it will put an identity inertia and a mass of 1 by default -->
  <joint name="l_leg_ft_joint" type="fixed">
    <parent link="LFoot"/>
    <child link="l_leg_ft"/>
    <origin rpy="0 0 0" xyz="0.005 0 -0.107"/>
  </joint>
  <joint name="r_leg_ft_joint" type="fixed">
    <parent link="RFoot"/>
    <child link="r_leg_ft"/>
    <origin rpy="0 0 0" xyz="0.005 0 -0.107"/>
  </joint>
  <link name="l_arm_ft">
    <inertial>
      <origin rpy="0 0 0" xyz="0 0 0"/>
      <mass value="0"/>
      <inertia ixx="0.0" ixy="0.0" ixz="0.0" iyy="0.0" iyz="0.0" izz="0.0"/>
    </inertial>
  </link> <!-- in pybullet, the inertia need to be specified even for dummy links, otherwise it will put an identity inertia and a mass of 1 by default -->
  <link name="r_arm_ft">
    <inertial>
      <origin rpy="0 0 0" xyz="0 0 0"/>
      <mass value="0"/>
      <inertia ixx="0.0" ixy="0.0" ixz="0.0" iyy="0.0" iyz="0.0" izz="0.0"/>
    </inertial>
  </link> <!-- in pybullet, the inertia need to be specified even for dummy links, otherwise it will put an identity inertia and a mass of 1 by default -->
  <joint name="l_arm_ft_joint" type="fixed">
    <parent link="LWrMot3"/>
    <child link="l_arm_ft"/>
    <origin rpy="0 0 0" xyz="0 0 -0.0565"/>
  </joint>
  <joint name="r_arm_ft_joint" type="fixed">
    <parent link="RWrMot3"/>
    <child link="r_arm_ft"/>
    <origin rpy="0 0 0" xyz="0 0 -0.0565"/>
  </joint>
  <!-- ************ FOREARMS ************ -->
  <!-- This links are defined in order to be compliant with http://www.ros.org/reps/rep-0120.html#coordinate-frames
	and to define the end effectors of the robot -->
  <!-- position and orientation of the arm regardless of the tool (grasping device for instance) attached to it -->
  <link name="l_wrist">
    <inertial>
      <origin rpy="0 0 0" xyz="0 0 0"/>
      <mass value="0"/>
      <inertia ixx="0.0" ixy="0.0" ixz="0.0" iyy="0.0" iyz="0.0" izz="0.0"/>
    </inertial>
  </link> <!-- in pybullet, the inertia need to be specified even for dummy links, otherwise it will put an identity inertia and a mass of 1 by default -->
  <link name="r_wrist">
    <inertial>
      <origin rpy="0 0 0" xyz="0 0 0"/>
      <mass value="0"/>
      <inertia ixx="0.0" ixy="0.0" ixz="0.0" iyy="0.0" iyz="0.0" izz="0.0"/>
    </inertial>
  </link> <!-- in pybullet, the inertia need to be specified even for dummy links, otherwise it will put an identity inertia and a mass of 1 by default -->
  <!-- ****************LINKS**************** -->
  <!-- ****************LEFT FOREARM**************** -->
  <link name="LForearm">
    <inertial>
      <origin rpy="0 0 0" xyz="1.2625599e-05 0.0042975381 0.044717986"/>
      <mass value="2.2127686"/>
      <inertia ixx="0.0065428368" ixy="-4.1196967e-05" ixz="3.272727e-06" iyy="0.005587829" iyz="0.00042088668" izz="0.0024783023"/>
    </inertial>
    <visual>
      <origin rpy="0 0 0" xyz="0 0 0"/>
      <geometry name="LForearm_visual">
        <mesh filename="meshes/Forearm.STL" scale="0.001 -0.001 0.001"/>
      </geometry>
      <material name="dark_grey"/>
    </visual>
    <collision>
      <origin rpy="0 0 0" xyz="0 0 0"/>
      <geometry name="LForearm_collision">
        <mesh filename="meshes/simple/Forearm.STL" scale="0.001 -0.001 0.001"/>
      </geometry>
    </collision>
  </link>
  <link name="LWrMot2">
    <inertial>
      <origin rpy="0 0 0" xyz="0.009819377 0.0013797184 -0.080380065"/>
      <mass value="1.2838072"/>
      <inertia ixx="0.001994124" ixy="2.569706e-05" ixz="0.00017443538" iyy="0.0021755329" iyz="-0.00012100987" izz="0.001830376"/>
    </inertial>
    <visual>
      <origin rpy="0 0 0" xyz="0 0 0"/>
      <geometry name="LWrMot2_visual">
        <mesh filename="meshes/ForearmPitch.STL" scale="0.001 -0.001 0.001"/>
      </geometry>
      <material name="dark_grey"/>
    </visual>
    <collision>
      <origin rpy="0 0 0" xyz="0 0 0"/>
      <geometry name="LWrMot2_collision">
        <mesh filename="meshes/simple/ForearmPitch.STL" scale="0.001 -0.001 0.001"/>
      </geometry>
    </collision>
  </link>
  <link name="LWrMot3">
    <inertial>
      <origin rpy="0 0 0" xyz="0.0070380706 -1.0811188e-05 -0.039669274"/>
      <mass value="4.2801447e-01"/>
      <inertia ixx="0.00028620156" ixy="5.2570457e-08" ixz="-3.9174213e-05" iyy="0.00071261855" iyz="-9.5020266e-08" izz="0.00061444258"/>
    </inertial>
    <visual>
      <origin rpy="0 0 0" xyz="0 0 0"/>
      <geometry name="LWrMot3_visual">
        <mesh filename="meshes/ForearmRoll.STL" scale="0.001 -0.001 0.001"/>
      </geometry>
      <material name="blue"/>
    </visual>
    <collision>
      <origin rpy="0 0 0" xyz="0 0 0"/>
      <geometry name="LWrMot3_collision">
        <mesh filename="meshes/simple/ForearmRoll.STL" scale="0.001 -0.001 0.001"/>
      </geometry>
    </collision>
  </link>
  <!-- ****************RIGHT FOREARM**************** -->
  <link name="RForearm">
    <inertial>
      <origin rpy="0 0 0" xyz="1.2625599e-05 -0.0042975381 0.044717986"/>
      <mass value="2.2127686"/>
      <inertia ixx="0.0065428368" ixy="4.1196967e-05" ixz="3.272727e-06" iyy="0.005587829" iyz="-0.00042088668" izz="0.0024783023"/>
    </inertial>
    <visual>
      <origin rpy="0 0 0" xyz="0 0 0"/>
      <geometry name="RForearm_visual">
        <mesh filename="meshes/Forearm.STL" scale="0.001 0.001 0.001"/>
      </geometry>
      <material name="dark_grey"/>
    </visual>
    <collision>
      <origin rpy="0 0 0" xyz="0 0 0"/>
      <geometry name="RForearm_collision">
        <mesh filename="meshes/simple/Forearm.STL" scale="0.001 0.001 0.001"/>
      </geometry>
    </collision>
  </link>
  <link name="RWrMot2">
    <inertial>
      <origin rpy="0 0 0" xyz="0.009819377 -0.0013797184 -0.080380065"/>
      <mass value="1.2838072"/>
      <inertia ixx="0.001994124" ixy="-2.569706e-05" ixz="0.00017443538" iyy="0.0021755329" iyz="0.00012100987" izz="0.001830376"/>
    </inertial>
    <visual>
      <origin rpy="0 0 0" xyz="0 0 0"/>
      <geometry name="RWrMot2_visual">
        <mesh filename="meshes/ForearmPitch.STL" scale="0.001 0.001 0.001"/>
      </geometry>
      <material name="dark_grey"/>
    </visual>
    <collision>
      <origin rpy="0 0 0" xyz="0 0 0"/>
      <geometry name="RWrMot2_collision">
        <mesh filename="meshes/simple/ForearmPitch.STL" scale="0.001 0.001 0.001"/>
      </geometry>
    </collision>
  </link>
  <link name="RWrMot3">
    <inertial>
      <origin rpy="0 0 0" xyz="0.0070380706 1.0811188e-05 -0.039669274"/>
      <mass value="4.2801447e-01"/>
      <inertia ixx="0.00028620156" ixy="-5.2570457e-08" ixz="-3.9174213e-05" iyy="0.00071261855" iyz="9.5020266e-08" izz="0.00061444258"/>
    </inertial>
    <visual>
      <origin rpy="0 0 0" xyz="0 0 0"/>
      <geometry name="RWrMot3_visual">
        <mesh filename="meshes/ForearmRoll.STL" scale="0.001 0.001 0.001"/>
      </geometry>
      <material name="blue"/>
    </visual>
    <collision>
      <origin rpy="0 0 0" xyz="0 0 0"/>
      <geometry name="RWrMot3_collision">
        <mesh filename="meshes/simple/ForearmRoll.STL" scale="0.001 0.001 0.001"/>
      </geometry>
    </collision>
  </link>
  <!-- ****************JOINTS**************** -->
  <!-- ****************LEFT FOREARM**************** -->
  <joint name="LForearmPlate" type="revolute">
    <parent link="LElb"/>
    <child link="LForearm"/>
    <origin rpy="0 0 0" xyz="-0.075 0.0 -0.1955"/>
    <axis xyz="0 0 1"/>
    <limit effort="60" lower="-2.529" upper="2.529" velocity="6.283"/>
    <dynamics damping="0.03" friction="0"/>
  </joint>
  <joint name="LWrj1" type="revolute">
    <parent link="LForearm"/>
    <child link="LWrMot2"/>
    <origin rpy="0 0 0" xyz="0 0 0"/>
    <axis xyz="0 1 0"/>
    <limit effort="60" lower="-1.48" upper="1.48" velocity="6.283"/>
    <dynamics damping="0.03" friction="0"/>
  </joint>
  <joint name="LWrj2" type="revolute">
    <parent link="LWrMot2"/>
    <child link="LWrMot3"/>
    <origin rpy="0 0 0" xyz="0 0 -0.092"/>
    <axis xyz="1 0 0"/>
    <limit effort="60" lower="-1.48" upper="1.48" velocity="6.283"/>
    <dynamics damping="0.03" friction="0"/>
  </joint>
  <joint name="l_wrist_joint" type="fixed">
    <parent link="LWrMot3"/>
    <child link="l_wrist"/>
    <origin rpy="0 0 0" xyz="0 0 0"/>
  </joint>
  <!-- ****************RIGHT FOREARM**************** -->
  <joint name="RForearmPlate" type="revolute">
    <parent link="RElb"/>
    <child link="RForearm"/>
    <origin rpy="0 0 0" xyz="-0.075 0.0 -0.1955"/>
    <axis xyz="0 0 1"/>
    <limit effort="60" lower="-2.529" upper="2.529" velocity="6.283"/>
    <dynamics damping="0.03" friction="0"/>
  </joint>
  <joint name="RWrj1" type="revolute">
    <parent link="RForearm"/>
    <child link="RWrMot2"/>
    <origin rpy="0 0 0" xyz="0 0 0"/>
    <axis xyz="0 1 0"/>
    <limit effort="60" lower="-1.48" upper="1.48" velocity="6.283"/>
    <dynamics damping="0.03" friction="0"/>
  </joint>
  <joint name="RWrj2" type="revolute">
    <parent link="RWrMot2"/>
    <child link="RWrMot3"/>
    <origin rpy="0 0 0" xyz="0 0 -0.092"/>
    <axis xyz="1 0 0"/>
    <limit effort="60" lower="-1.48" upper="1.48" velocity="6.283"/>
    <dynamics damping="0.03" friction="0"/>
  </joint>
  <joint name="r_wrist_joint" type="fixed">
    <parent link="RWrMot3"/>
    <child link="r_wrist"/>
    <origin rpy="0 0 0" xyz="0 0 0"/>
  </joint>
  <!-- ************ HANDS ************ -->
  <!-- For the hand we use the inertia of a parallelepiped -->
  <!-- LINKS -->
  <link name="RSoftHand">
    <inertial>
      <origin rpy="0 0 0" xyz="0 0 0"/>
      <mass value="0"/>
      <inertia ixx="0.0" ixy="0.0" ixz="0.0" iyy="0.0" iyz="0.0" izz="0.0"/>
    </inertial>
  </link> <!-- in pybullet, the inertia need to be specified even for dummy links, otherwise it will put an identity inertia and a mass of 1 by default -->
  <link name="RSoftHandLink">
    <inertial>
      <origin rpy="0 0 0" xyz="0 0 -0.17"/>
      <mass value="1.2"/>
      <inertia ixx="0.00232" ixy="0" ixz="0" iyy="0.00296" iyz="0" izz="0.00136"/>
    </inertial>
    <visual>
      <origin rpy="0.0 0.0 0.0" xyz="0.0 0.0 0.0"/>
      <geometry name="RSoftHandLink_visual">
        <mesh filename="meshes/SoftHandOpen.STL" scale="0.001 0.001 0.001"/>
      </geometry>
      <material name="grey"/>
    </visual>
    <collision>
      <origin rpy="0.0 0.0 0.0" xyz="0.0 0.0 0.0"/>
      <geometry name="RSoftHandLink_collision">
        <mesh filename="meshes/simple/SoftHandOpen.STL" scale="0.001 0.001 0.001"/>
      </geometry>
    </collision>
  </link>
  <link name="LSoftHand">
    <inertial>
      <origin rpy="0 0 0" xyz="0 0 0"/>
      <mass value="0"/>
      <inertia ixx="0.0" ixy="0.0" ixz="0.0" iyy="0.0" iyz="0.0" izz="0.0"/>
    </inertial>
  </link> <!-- in pybullet, the inertia need to be specified even for dummy links, otherwise it will put an identity inertia and a mass of 1 by default -->
  <link name="LSoftHandLink">
    <inertial>
      <origin rpy="0 0 0" xyz="0 0 -0.17"/>
      <mass value="1.2"/>
      <inertia ixx="0.00232" ixy="0" ixz="0" iyy="0.00296" iyz="0" izz="0.00136"/>
    </inertial>
    <visual>
      <origin rpy="0.0 0.0 0.0" xyz="0.0 0.0 0.0"/>
      <geometry name="LSoftHandLink_visual">
        <mesh filename="meshes/SoftHandOpen.STL" scale="0.001 -0.001 0.001"/>
      </geometry>
      <material name="grey"/>
    </visual>
    <collision>
      <origin rpy="0.0 0.0 0.0" xyz="0.0 0.0 0.0"/>
      <geometry name="LSoftHandLink_collision">
        <mesh filename="meshes/simple/SoftHandOpen.STL" scale="0.001 -0.001 0.001"/>
      </geometry>
    </collision>
  </link>
  <!-- JOINTS -->
  <joint name="r_handj" type="fixed">
    <parent link="RWrMot3"/>
    <child link="RSoftHandLink"/>
    <origin rpy="0 0 0" xyz="0 0 0"/>
  </joint>
  <joint name="r_handj2" type="fixed">
    <parent link="RSoftHandLink"/>
    <child link="RSoftHand"/>
    <origin rpy="0 0 0" xyz="0 0.0305 -0.21"/>
  </joint>
  <joint name="l_handj" type="fixed">
    <parent link="LWrMot3"/>
    <child link="LSoftHandLink"/>
    <origin rpy="0 0 0" xyz="0 0 0"/>
  </joint>
  <joint name="l_handj2" type="fixed">
    <parent link="LSoftHandLink"/>
    <child link="LSoftHand"/>
    <origin rpy="0 0 0" xyz="0 -0.0305 -0.21"/>
  </joint>
  <!-- multisense_sl_v4 with fixed joints (NOT FOR SIMULATION) -->
  <!-- 
       Based on multisense_sl_v4.urdf in multisense_sl_description (DRCSIM) 
-->
  <!-- Head Link Simple Collision Meshes -->
  <link name="multisense/head">
    <inertial>
      <origin rpy="0 0 0" xyz="-0.075493 3.3383E-05 0.02774"/>
      <mass value="1.41984"/>
      <inertia ixx="0.0039688" ixy="-1.5797E-06" ixz="-0.00089293" iyy="0.0041178" iyz="-6.8415E-07" izz="0.0035243"/>
    </inertial>
    <visual>
      <origin rpy="0 0 0" xyz="0 0 0"/>
      <geometry>
        <mesh filename="meshes/Head.STL" scale="0.001 0.001 0.001"/>
      </geometry>
      <material name="dark_grey"/>
    </visual>
    <collision>
      <origin rpy="0 0 0" xyz="0 0 0"/>
      <geometry>
        <mesh filename="meshes/simple/Head.STL" scale="0.001 0.001 0.001"/>
      </geometry>
    </collision>
  </link>
  <link name="multisense/hokuyo_link">
    <inertial>
      <origin rpy="0 0 0" xyz="0.032428 0.0004084 -0.0041835"/>
      <mass value="0.057654"/>
      <inertia ixx="3.7174E-05" ixy="4.9927E-08" ixz="1.1015E-05" iyy="4.2412E-05" iyz="-9.8165E-09" izz="4.167E-05"/>
    </inertial>
    <visual>
      <origin rpy="1.5707963267949 0 1.5707963267949" xyz="0 0 0"/>
      <geometry>
        <mesh filename="meshes/hokuyo_link.STL"/>
      </geometry>
      <material name="black"/>
    </visual>
    <collision>
      <origin rpy="0 0 0" xyz="0.01885 0 -0.02119"/>
      <geometry>
        <box size="0.08 0.06 0.04238"/>
      </geometry>
    </collision>
    <collision>
      <origin rpy="0 0 0" xyz="0.03 0 0.0235"/>
      <geometry>
        <cylinder length="0.047" radius="0.024425"/>
      </geometry>
    </collision>
  </link>
  <!-- Remove frome here!  
<gazebo reference="head">
    <mu1>0.9</mu1>
    <mu2>0.9</mu2>
  </gazebo>
  <gazebo reference="hokuyo_link">
    <mu1>0.9</mu1>
    <mu2>0.9</mu2>
  </gazebo>
-->
  <joint name="hokuyo_joint" type="fixed">
    <origin rpy="0 0 0" xyz="-0.0446 0 0.0880"/>
    <parent link="multisense/head"/>
    <child link="multisense/hokuyo_link"/>
  </joint>
  <!-- Remove frome here!
  <gazebo reference="hokuyo_joint">
    <implicitSpringDamper>1</implicitSpringDamper>
  </gazebo>
-->
  <!-- Hokuyo Laser -->
  <joint name="head_hokuyo_joint" type="fixed">
    <axis xyz="0 1 0"/>
    <origin rpy="0 0 0" xyz="0.03 0 0.015"/>
    <parent link="multisense/hokuyo_link"/>
    <child link="multisense/head_hokuyo_frame"/>
  </joint>
  <link name="multisense/head_hokuyo_frame">
    <inertial>
      <origin rpy="0 0 0" xyz="0 0 0"/>
      <mass value="0"/>
      <inertia ixx="0.0" ixy="0.0" ixz="0.0" iyy="0.0" iyz="0.0" izz="0.0"/>
    </inertial>
  </link> <!-- in pybullet, the inertia need to be specified even for dummy links, otherwise it will put an identity inertia and a mass of 1 by default -->
  <!-- Remove frome here!
  <gazebo reference="head_hokuyo_frame">
    <sensor type="gpu_ray" name="head_hokuyo_sensor">
      <pose>0 0 0 0 0 0</pose>
      <visualize>false</visualize>
      <update_rate>40</update_rate>
      <ray>
        <scan>
          <horizontal>
            <samples>720</samples>
            <resolution>1</resolution>
            <min_angle>-1.570796</min_angle>
            <max_angle>1.570796</max_angle>
          </horizontal>
        </scan>
        <range>
          <min>0.10</min>
          <max>30.0</max>
          <resolution>0.01</resolution>
        </range>
        <noise>
          <type>gaussian</type>-->
  <!-- Noise parameters based on published spec for Hokuyo laser
               achieving "+-30mm" accuracy at range < 10m.  A mean of 0.0m and
               stddev of 0.01m will put 99.7% of samples within 0.03m of the true
               reading. -->
  <!-- <mean>0.0</mean>
          <stddev>0.01</stddev>
        </noise>
      </ray>
      <plugin name="gazebo_ros_head_hokuyo_controller" filename="libgazebo_ros_gpu_laser.so">
        <topicName>/multisense/lidar_scan</topicName>
        <frameName>head_hokuyo_frame</frameName>
      </plugin>
    </sensor>
  </gazebo>
-->
  <!-- Stereo Camera -->
  <joint name="left_camera_frame_joint" type="fixed">
    <!-- optical frame collocated with tilting DOF -->
    <origin xyz="0.0 0.035 -0.002"/>
    <parent link="multisense/head"/>
    <child link="multisense/left_camera_frame"/>
  </joint>
  <link name="multisense/left_camera_frame">
    <inertial>
      <origin rpy="0 0 0" xyz="0 0 0"/>
      <mass value="0"/>
      <inertia ixx="0.0" ixy="0.0" ixz="0.0" iyy="0.0" iyz="0.0" izz="0.0"/>
    </inertial>
  </link> <!-- in pybullet, the inertia need to be specified even for dummy links, otherwise it will put an identity inertia and a mass of 1 by default -->
  <joint name="left_camera_optical_frame_joint" type="fixed">
    <origin rpy="-1.5708 0.0 -1.5708" xyz="0 0 0"/>
    <parent link="multisense/left_camera_frame"/>
    <child link="multisense/left_camera_optical_frame"/>
  </joint>
  <link name="multisense/left_camera_optical_frame">
    <inertial>
      <origin rpy="0 0 0" xyz="0 0 0"/>
      <mass value="0"/>
      <inertia ixx="0.0" ixy="0.0" ixz="0.0" iyy="0.0" iyz="0.0" izz="0.0"/>
    </inertial>
  </link> <!-- in pybullet, the inertia need to be specified even for dummy links, otherwise it will put an identity inertia and a mass of 1 by default -->
  <!--
  <gazebo reference="left_camera_frame">
    <sensor type="multicamera" name="stereo_camera">-->
  <!-- see MultiSenseSLPlugin.h for available modes -->
  <!--<update_rate>30.0</update_rate>
      <camera name="left">-->
  <!-- Spec sheet says 80deg X 45deg @ 1024x544pix.  Based on feedback
             from teams, we're instead doing 80deg X 80deg @ 800x800pix. -->
  <!-- <horizontal_fov>1.3962634</horizontal_fov>
        <image>
          <width>800</width>
          <height>800</height>
          <format>R8G8B8</format>
        </image>
        <clip>
          <near>0.02</near>
          <far>300</far>
        </clip>
        <noise>
          <type>gaussian</type>-->
  <!-- Noise is sampled independently per pixel on each frame.  
               That pixel's noise value is added to each of its color
               channels, which at that point lie in the range [0,1].
               The stddev value of 0.007 is based on experimental data 
               from a camera in a Sandia hand pointed at a static scene
               in a couple of different lighting conditions.  -->
  <!-- <mean>0.0</mean>
          <stddev>0.007</stddev>
        </noise>
      </camera>
      <camera name="right">
        <pose>0 -0.07 0 0 0 0</pose>-->
  <!-- Spec sheet says 80deg X 45deg @ 1024x544pix.  Based on feedback
             from teams, we're instead doing 80deg X 80deg @ 800x800pix. -->
  <!-- <horizontal_fov>1.3962634</horizontal_fov>
        <image>
          <width>800</width>
          <height>800</height>
          <format>R8G8B8</format>
        </image>
        <clip>
          <near>0.02</near>
          <far>300</far>
        </clip>
        <noise>
          <type>gaussian</type>-->
  <!-- Noise is sampled independently per pixel on each frame.  
               That pixel's noise value is added to each of its color
               channels, which at that point lie in the range [0,1].
               The stddev value of 0.007 is based on experimental data 
               from a camera in a Sandia hand pointed at a static scene
               in a couple of different lighting conditions.  -->
  <!--  <mean>0.0</mean>
          <stddev>0.007</stddev>
        </noise>
      </camera>
      <plugin name="stereo_camera_controller" filename="libgazebo_ros_multicamera.so">
        <alwaysOn>true</alwaysOn>
        <updateRate>0.0</updateRate>
        <cameraName>multisense/camera</cameraName>
        <imageTopicName>image_raw</imageTopicName>
        <cameraInfoTopicName>camera_info</cameraInfoTopicName>
        <frameName>left_camera_optical_frame</frameName>-->
  <!-- <rightFrameName>right_camera_optical_frame</rightFrameName> -->
  <!--  <hackBaseline>0.07</hackBaseline>
        <distortionK1>0.0</distortionK1>
        <distortionK2>0.0</distortionK2>
        <distortionK3>0.0</distortionK3>
        <distortionT1>0.0</distortionT1>
        <distortionT2>0.0</distortionT2>
      </plugin>
    </sensor>
  </gazebo>
-->
  <joint name="right_camera_frame_joint" type="fixed">
    <origin xyz="0.0 -0.035 -0.002"/>
    <parent link="multisense/head"/>
    <child link="multisense/right_camera_frame"/>
  </joint>
  <link name="multisense/right_camera_frame">
    <inertial>
      <origin rpy="0 0 0" xyz="0 0 0"/>
      <mass value="0"/>
      <inertia ixx="0.0" ixy="0.0" ixz="0.0" iyy="0.0" iyz="0.0" izz="0.0"/>
    </inertial>
  </link> <!-- in pybullet, the inertia need to be specified even for dummy links, otherwise it will put an identity inertia and a mass of 1 by default -->
  <joint name="right_camera_optical_frame_joint" type="fixed">
    <origin rpy="-1.5708 0.0 -1.5708" xyz="0 0 0"/>
    <parent link="multisense/right_camera_frame"/>
    <child link="multisense/right_camera_optical_frame"/>
  </joint>
  <link name="multisense/right_camera_optical_frame">
    <inertial>
      <origin rpy="0 0 0" xyz="0 0 0"/>
      <mass value="0"/>
      <inertia ixx="0.0" ixy="0.0" ixz="0.0" iyy="0.0" iyz="0.0" izz="0.0"/>
    </inertial>
  </link> <!-- in pybullet, the inertia need to be specified even for dummy links, otherwise it will put an identity inertia and a mass of 1 by default -->
  <joint name="center_top_led_frame_joint" type="fixed">
    <origin xyz="0.01125 0.0 0.0105"/>
    <parent link="multisense/head"/>
    <child link="multisense/center_top_led_frame"/>
  </joint>
  <link name="multisense/center_top_led_frame">
    <inertial>
      <origin rpy="0 0 0" xyz="0 0 0"/>
      <mass value="0"/>
      <inertia ixx="0.0" ixy="0.0" ixz="0.0" iyy="0.0" iyz="0.0" izz="0.0"/>
    </inertial>
  </link> <!-- in pybullet, the inertia need to be specified even for dummy links, otherwise it will put an identity inertia and a mass of 1 by default -->
  <joint name="center_bottom_led_frame_joint" type="fixed">
    <origin xyz="0.01125 0.0 -0.0155"/>
    <parent link="multisense/head"/>
    <child link="multisense/center_bottom_led_frame"/>
  </joint>
  <link name="multisense/center_bottom_led_frame">
    <inertial>
      <origin rpy="0 0 0" xyz="0 0 0"/>
      <mass value="0"/>
      <inertia ixx="0.0" ixy="0.0" ixz="0.0" iyy="0.0" iyz="0.0" izz="0.0"/>
    </inertial>
  </link> <!-- in pybullet, the inertia need to be specified even for dummy links, otherwise it will put an identity inertia and a mass of 1 by default -->
  <joint name="left_led_frame_joint" type="fixed">
    <origin rpy="0 0 0.6" xyz="-0.01443 0.07452 0.050346"/>
    <parent link="multisense/head"/>
    <child link="multisense/left_led_frame"/>
  </joint>
  <link name="multisense/left_led_frame">
    <inertial>
      <origin rpy="0 0 0" xyz="0 0 0"/>
      <mass value="0"/>
      <inertia ixx="0.0" ixy="0.0" ixz="0.0" iyy="0.0" iyz="0.0" izz="0.0"/>
    </inertial>
  </link> <!-- in pybullet, the inertia need to be specified even for dummy links, otherwise it will put an identity inertia and a mass of 1 by default -->
  <joint name="right_led_frame_joint" type="fixed">
    <origin rpy="0 0 -0.6" xyz="-0.01443 -0.07452 0.050346"/>
    <parent link="multisense/head"/>
    <child link="multisense/right_led_frame"/>
  </joint>
  <link name="multisense/right_led_frame">
    <inertial>
      <origin rpy="0 0 0" xyz="0 0 0"/>
      <mass value="0"/>
      <inertia ixx="0.0" ixy="0.0" ixz="0.0" iyy="0.0" iyz="0.0" izz="0.0"/>
    </inertial>
  </link> <!-- in pybullet, the inertia need to be specified even for dummy links, otherwise it will put an identity inertia and a mass of 1 by default -->
  <!--
  <gazebo>
    <plugin filename="libMultiSenseSLPlugin.so" name="multisense_plugin"/>
  </gazebo>
-->
  <!-- imu link -->
  <link name="multisense/head_imu_link">
    <inertial>
      <mass value="1e-5"/>
      <!-- collocate with parent link and remove mass from it -->
      <origin rpy="0 0 0" xyz="-0.122993 0.035033383 0.02774"/>
      <inertia ixx="1e-6" ixy="0" ixz="0" iyy="1e-6" iyz="0" izz="1e-6"/>
    </inertial>
    <visual>
      <origin rpy="0 0 0" xyz="0 0 0"/>
      <geometry>
        <box size="0.01 0.01 0.01"/>
      </geometry>
    </visual>
  </link>
  <joint name="head_imu_joint" type="fixed">
    <parent link="multisense/head"/>
    <child link="multisense/head_imu_link"/>
    <!-- putting it at the same z-level as the stereo -->
    <origin rpy="0 0 0" xyz="-0.0475 0.035 0.0"/>
  </joint>
  <!--
  <gazebo reference="head_imu_link">-->
  <!-- this is expected to be reparented to head with appropriate offset
         when head_imu_link is reduced by fixed joint reduction -->
  <!-- todo: this is working with gazebo 1.4, need to write a unit test -->
  <!--<sensor name="head_imu_sensor" type="imu">
      <always_on>1</always_on>
      <update_rate>1000.0</update_rate>
      <imu>
        <noise>
          <type>gaussian</type>-->
  <!-- Noise parameters from Boston Dynamics
               (http://gazebosim.org/wiki/Sensor_noise):
                 rates (rad/s): mean=0, stddev=2e-4
                 accels (m/s/s): mean=0, stddev=1.7e-2
                 rate bias (rad/s): 5e-6 - 1e-5
                 accel bias (m/s/s): 1e-1
               Experimentally, simulation provide rates with noise of
               about 1e-3 rad/s and accels with noise of about 1e-1 m/s/s.
               So we don't expect to see the noise unless number of inner iterations
               are increased.

               We will add bias.  In this model, bias is sampled once for rates
               and once for accels at startup; the sign (negative or positive)
               of each bias is then switched with equal probability.  Thereafter,
               the biases are fixed additive offsets.  We choose
               bias means and stddevs to produce biases close to the provided
               data. -->
  <!--  <rate>
            <mean>0.0</mean>
            <stddev>2e-4</stddev>
            <bias_mean>0.0000075</bias_mean>
            <bias_stddev>0.0000008</bias_stddev>
          </rate>
          <accel>
            <mean>0.0</mean>
            <stddev>1.7e-2</stddev>
            <bias_mean>0.1</bias_mean>
            <bias_stddev>0.001</bias_stddev>
          </accel>
        </noise>
      </imu>
    </sensor>
  </gazebo>
-->
  <joint name="neck_joint" type="fixed">
    <parent link="NeckPitch"/>
    <child link="multisense/head"/>
    <origin rpy="0 0 0" xyz="0.08765 0 0.06475"/>
  </joint>
  <link name="gaze">
    <inertial>
      <origin rpy="0 0 0" xyz="0 0 0"/>
      <mass value="0"/>
      <inertia ixx="0.0" ixy="0.0" ixz="0.0" iyy="0.0" iyz="0.0" izz="0.0"/>
    </inertial>
  </link> <!-- in pybullet, the inertia need to be specified even for dummy links, otherwise it will put an identity inertia and a mass of 1 by default -->
  <joint name="gaze_joint" type="fixed">
    <parent link="multisense/head"/>
    <child link="gaze"/>
    <origin rpy="0 0 0" xyz="0 0 0"/>
  </joint>
  <!-- IMU -->
  <link name="imu_link">
    <inertial>
      <mass value="0.01"/>
      <origin xyz="0 0 0"/>
      <inertia ixx="1.0E-6" ixy="0" ixz="0" iyy="1.0E-6" iyz="0" izz="1.0E-6"/>
    </inertial>
    <visual>
      <origin rpy="0 0 0" xyz="0 0 0"/>
      <geometry>
        <box size="0.01 0.01 0.01"/>
      </geometry>
    </visual>
  </link>
  <link name="imu_link2">
    <inertial>
      <mass value="0.01"/>
      <origin xyz="0 0 0"/>
      <inertia ixx="1.0E-6" ixy="0" ixz="0" iyy="1.0E-6" iyz="0" izz="1.0E-6"/>
    </inertial>
    <visual>
      <origin rpy="0 0 0" xyz="0 0 0"/>
      <geometry>
        <box size="0.01 0.01 0.01"/>
      </geometry>
    </visual>
  </link>
  <joint name="imu_joint" type="fixed">
    <parent link="Waist"/>
    <child link="imu_link"/>
    <origin rpy="0 0 0" xyz="0.0535 0.0 0.0601"/>
  </joint>
  <joint name="imu_joint2" type="fixed">
    <parent link="Waist"/>
    <child link="imu_link2"/>
    <origin rpy="0 0 0" xyz="0.0135 0.0 0.0601"/>
  </joint>
  <origin rpy="0 0 0" xyz="0.0 0.0 1.12"/>
  <!--
  ROS urdf definition of the BIGMAN humanoid robot by Istituto Italiano di Tecnologia
  
  Author: Alessio Rocchi
  
  This file groups files to use BIGMAN in GAZEBO
  
  -->
  <!-- IMU plugin -->
  <gazebo>
    <plugin filename="libgazebo_ros_imu.so" name="imu_plugin">
      <alwaysOn>true</alwaysOn>
      <bodyName>base_link</bodyName>
      <topicName>/bigman/sensor/IMU</topicName>
      <serviceName>imu_service</serviceName>
      <gaussianNoise>0.0</gaussianNoise>
      <updateRate>50.0</updateRate>
    </plugin>
  </gazebo>
  <!-- ros_control plugin -->
  <gazebo>
    <plugin filename="libgazebo_ros_control.so" name="gazebo_ros_control">
      <robotNamespace>/bigman</robotNamespace>
      <robotSimType>gazebo_ros_control/DefaultRobotHWSim</robotSimType>
    </plugin>
  </gazebo>
  <!-- ************ Transmition ************ -->
  <transmission name="tran29">
    <type>transmission_interface/SimpleTransmission</type>
    <joint name="WaistLat">
      <hardwareInterface>EffortJointInterface</hardwareInterface>
    </joint>
    <actuator name="motor_WaistLat">
      <hardwareInterface>EffortJointInterface</hardwareInterface>
      <mechanicalReduction>1</mechanicalReduction>
    </actuator>
  </transmission>
  <transmission name="tran30">
    <type>transmission_interface/SimpleTransmission</type>
    <joint name="WaistSag">
      <hardwareInterface>EffortJointInterface</hardwareInterface>
    </joint>
    <actuator name="motor_WaistSag">
      <hardwareInterface>EffortJointInterface</hardwareInterface>
      <mechanicalReduction>1</mechanicalReduction>
    </actuator>
  </transmission>
  <transmission name="tran31">
    <type>transmission_interface/SimpleTransmission</type>
    <joint name="WaistYaw">
      <hardwareInterface>EffortJointInterface</hardwareInterface>
    </joint>
    <actuator name="motor_WaistYaw">
      <hardwareInterface>EffortJointInterface</hardwareInterface>
      <mechanicalReduction>1</mechanicalReduction>
    </actuator>
  </transmission>
  <transmission name="tran1">
    <type>transmission_interface/SimpleTransmission</type>
    <joint name="NeckYawj">
      <hardwareInterface>EffortJointInterface</hardwareInterface>
    </joint>
    <actuator name="motor_NeckYawj">
      <hardwareInterface>EffortJointInterface</hardwareInterface>
      <mechanicalReduction>1</mechanicalReduction>
    </actuator>
  </transmission>
  <transmission name="tran2">
    <type>transmission_interface/SimpleTransmission</type>
    <joint name="NeckPitchj">
      <hardwareInterface>EffortJointInterface</hardwareInterface>
    </joint>
    <actuator name="motor_NeckPitchj">
      <hardwareInterface>EffortJointInterface</hardwareInterface>
      <mechanicalReduction>1</mechanicalReduction>
    </actuator>
  </transmission>
  <transmission name="tran3">
    <type>transmission_interface/SimpleTransmission</type>
    <joint name="LShSag">
      <hardwareInterface>EffortJointInterface</hardwareInterface>
    </joint>
    <actuator name="motor_LShSag">
      <hardwareInterface>EffortJointInterface</hardwareInterface>
      <mechanicalReduction>1</mechanicalReduction>
    </actuator>
  </transmission>
  <transmission name="tran4">
    <type>transmission_interface/SimpleTransmission</type>
    <joint name="LShLat">
      <hardwareInterface>EffortJointInterface</hardwareInterface>
    </joint>
    <actuator name="motor_LShLat">
      <hardwareInterface>EffortJointInterface</hardwareInterface>
      <mechanicalReduction>1</mechanicalReduction>
    </actuator>
  </transmission>
  <transmission name="tran5">
    <type>transmission_interface/SimpleTransmission</type>
    <joint name="LShYaw">
      <hardwareInterface>EffortJointInterface</hardwareInterface>
    </joint>
    <actuator name="motor_LShYaw">
      <hardwareInterface>EffortJointInterface</hardwareInterface>
      <mechanicalReduction>1</mechanicalReduction>
    </actuator>
  </transmission>
  <transmission name="tran6">
    <type>transmission_interface/SimpleTransmission</type>
    <joint name="LElbj">
      <hardwareInterface>EffortJointInterface</hardwareInterface>
    </joint>
    <actuator name="motor_LElbj">
      <hardwareInterface>EffortJointInterface</hardwareInterface>
      <mechanicalReduction>1</mechanicalReduction>
    </actuator>
  </transmission>
  <transmission name="tran7">
    <type>transmission_interface/SimpleTransmission</type>
    <joint name="RShSag">
      <hardwareInterface>EffortJointInterface</hardwareInterface>
    </joint>
    <actuator name="motor_RShSag">
      <hardwareInterface>EffortJointInterface</hardwareInterface>
      <mechanicalReduction>1</mechanicalReduction>
    </actuator>
  </transmission>
  <transmission name="tran8">
    <type>transmission_interface/SimpleTransmission</type>
    <joint name="RShLat">
      <hardwareInterface>EffortJointInterface</hardwareInterface>
    </joint>
    <actuator name="motor_RShLat">
      <hardwareInterface>EffortJointInterface</hardwareInterface>
      <mechanicalReduction>1</mechanicalReduction>
    </actuator>
  </transmission>
  <transmission name="tran9">
    <type>transmission_interface/SimpleTransmission</type>
    <joint name="RShYaw">
      <hardwareInterface>EffortJointInterface</hardwareInterface>
    </joint>
    <actuator name="motor_RShYaw">
      <hardwareInterface>EffortJointInterface</hardwareInterface>
      <mechanicalReduction>1</mechanicalReduction>
    </actuator>
  </transmission>
  <transmission name="tran10">
    <type>transmission_interface/SimpleTransmission</type>
    <joint name="RElbj">
      <hardwareInterface>EffortJointInterface</hardwareInterface>
    </joint>
    <actuator name="motor_RElbj">
      <hardwareInterface>EffortJointInterface</hardwareInterface>
      <mechanicalReduction>1</mechanicalReduction>
    </actuator>
  </transmission>
  <transmission name="tran11">
    <type>transmission_interface/SimpleTransmission</type>
    <joint name="LForearmPlate">
      <hardwareInterface>EffortJointInterface</hardwareInterface>
    </joint>
    <actuator name="motor_LForearmPlate">
      <hardwareInterface>EffortJointInterface</hardwareInterface>
      <mechanicalReduction>1</mechanicalReduction>
    </actuator>
  </transmission>
  <transmission name="tran12">
    <type>transmission_interface/SimpleTransmission</type>
    <joint name="LWrj1">
      <hardwareInterface>EffortJointInterface</hardwareInterface>
    </joint>
    <actuator name="motor_LWrj1">
      <hardwareInterface>EffortJointInterface</hardwareInterface>
      <mechanicalReduction>1</mechanicalReduction>
    </actuator>
  </transmission>
  <transmission name="tran13">
    <type>transmission_interface/SimpleTransmission</type>
    <joint name="LWrj2">
      <hardwareInterface>EffortJointInterface</hardwareInterface>
    </joint>
    <actuator name="motor_LWrj2">
      <hardwareInterface>EffortJointInterface</hardwareInterface>
      <mechanicalReduction>1</mechanicalReduction>
    </actuator>
  </transmission>
  <transmission name="tran14">
    <type>transmission_interface/SimpleTransmission</type>
    <joint name="RForearmPlate">
      <hardwareInterface>EffortJointInterface</hardwareInterface>
    </joint>
    <actuator name="motor_RForearmPlate">
      <hardwareInterface>EffortJointInterface</hardwareInterface>
      <mechanicalReduction>1</mechanicalReduction>
    </actuator>
  </transmission>
  <transmission name="tran15">
    <type>transmission_interface/SimpleTransmission</type>
    <joint name="RWrj1">
      <hardwareInterface>EffortJointInterface</hardwareInterface>
    </joint>
    <actuator name="motor_RWrj1">
      <hardwareInterface>EffortJointInterface</hardwareInterface>
      <mechanicalReduction>1</mechanicalReduction>
    </actuator>
  </transmission>
  <transmission name="tran16">
    <type>transmission_interface/SimpleTransmission</type>
    <joint name="RWrj2">
      <hardwareInterface>EffortJointInterface</hardwareInterface>
    </joint>
    <actuator name="motor_RWrj2">
      <hardwareInterface>EffortJointInterface</hardwareInterface>
      <mechanicalReduction>1</mechanicalReduction>
    </actuator>
  </transmission>
  <transmission name="tran17">
    <type>transmission_interface/SimpleTransmission</type>
    <joint name="LHipLat">
      <hardwareInterface>EffortJointInterface</hardwareInterface>
    </joint>
    <actuator name="motor_LHipLat">
      <hardwareInterface>EffortJointInterface</hardwareInterface>
      <mechanicalReduction>1</mechanicalReduction>
    </actuator>
  </transmission>
  <transmission name="tran18">
    <type>transmission_interface/SimpleTransmission</type>
    <joint name="LHipYaw">
      <hardwareInterface>EffortJointInterface</hardwareInterface>
    </joint>
    <actuator name="motor_LHipYaw">
      <hardwareInterface>EffortJointInterface</hardwareInterface>
      <mechanicalReduction>1</mechanicalReduction>
    </actuator>
  </transmission>
  <transmission name="tran19">
    <type>transmission_interface/SimpleTransmission</type>
    <joint name="LHipSag">
      <hardwareInterface>EffortJointInterface</hardwareInterface>
    </joint>
    <actuator name="motor_LHipSag">
      <hardwareInterface>EffortJointInterface</hardwareInterface>
      <mechanicalReduction>1</mechanicalReduction>
    </actuator>
  </transmission>
  <transmission name="tran20">
    <type>transmission_interface/SimpleTransmission</type>
    <joint name="LKneeSag">
      <hardwareInterface>EffortJointInterface</hardwareInterface>
    </joint>
    <actuator name="motor_LKneeSag">
      <hardwareInterface>EffortJointInterface</hardwareInterface>
      <mechanicalReduction>1</mechanicalReduction>
    </actuator>
  </transmission>
  <transmission name="tran21">
    <type>transmission_interface/SimpleTransmission</type>
    <joint name="LAnkSag">
      <hardwareInterface>EffortJointInterface</hardwareInterface>
    </joint>
    <actuator name="motor_LAnkSag">
      <hardwareInterface>EffortJointInterface</hardwareInterface>
      <mechanicalReduction>1</mechanicalReduction>
    </actuator>
  </transmission>
  <transmission name="tran22">
    <type>transmission_interface/SimpleTransmission</type>
    <joint name="LAnkLat">
      <hardwareInterface>EffortJointInterface</hardwareInterface>
    </joint>
    <actuator name="motor_LAnkLat">
      <hardwareInterface>EffortJointInterface</hardwareInterface>
      <mechanicalReduction>1</mechanicalReduction>
    </actuator>
  </transmission>
  <transmission name="tran23">
    <type>transmission_interface/SimpleTransmission</type>
    <joint name="RHipLat">
      <hardwareInterface>EffortJointInterface</hardwareInterface>
    </joint>
    <actuator name="motor_RHipLat">
      <hardwareInterface>EffortJointInterface</hardwareInterface>
      <mechanicalReduction>1</mechanicalReduction>
    </actuator>
  </transmission>
  <transmission name="tran24">
    <type>transmission_interface/SimpleTransmission</type>
    <joint name="RHipYaw">
      <hardwareInterface>EffortJointInterface</hardwareInterface>
    </joint>
    <actuator name="motor_RHipYaw">
      <hardwareInterface>EffortJointInterface</hardwareInterface>
      <mechanicalReduction>1</mechanicalReduction>
    </actuator>
  </transmission>
  <transmission name="tran25">
    <type>transmission_interface/SimpleTransmission</type>
    <joint name="RHipSag">
      <hardwareInterface>EffortJointInterface</hardwareInterface>
    </joint>
    <actuator name="motor_RHipSag">
      <hardwareInterface>EffortJointInterface</hardwareInterface>
      <mechanicalReduction>1</mechanicalReduction>
    </actuator>
  </transmission>
  <transmission name="tran26">
    <type>transmission_interface/SimpleTransmission</type>
    <joint name="RKneeSag">
      <hardwareInterface>EffortJointInterface</hardwareInterface>
    </joint>
    <actuator name="motor_RKneeSag">
      <hardwareInterface>EffortJointInterface</hardwareInterface>
      <mechanicalReduction>1</mechanicalReduction>
    </actuator>
  </transmission>
  <transmission name="tran27">
    <type>transmission_interface/SimpleTransmission</type>
    <joint name="RAnkSag">
      <hardwareInterface>EffortJointInterface</hardwareInterface>
    </joint>
    <actuator name="motor_RAnkSag">
      <hardwareInterface>EffortJointInterface</hardwareInterface>
      <mechanicalReduction>1</mechanicalReduction>
    </actuator>
  </transmission>
  <transmission name="tran28">
    <type>transmission_interface/SimpleTransmission</type>
    <joint name="RAnkLat">
      <hardwareInterface>EffortJointInterface</hardwareInterface>
    </joint>
    <actuator name="motor_RAnkLat">
      <hardwareInterface>EffortJointInterface</hardwareInterface>
      <mechanicalReduction>1</mechanicalReduction>
    </actuator>
  </transmission>
  <!-- The ft_sensor plugin -->
  <gazebo reference="RWrj2">
    <sensor name="right_arm" type="force_torque">
      <force_torque>
        <frame>sensor</frame>
        <measure_direction>child_to_parent</measure_direction>
      </force_torque>
      <always_on>true</always_on>
      <visualize>true</visualize>
      <update_rate>1000</update_rate>
      <pose>0 0 -0.0565 0 0 0</pose>
      <plugin filename="libgazebo_yarp_forcetorque.so" name="RForearmPlate_FT_plugin">
        <yarpConfigurationFile>model://bigman_urdf/conf/bigman/bigman_gazebo_right_arm_ft.ini</yarpConfigurationFile>
      </plugin>
    </sensor>
  </gazebo>
  <gazebo reference="LWrj2">
    <sensor name="left_arm" type="force_torque">
      <force_torque>
        <frame>sensor</frame>
        <measure_direction>child_to_parent</measure_direction>
      </force_torque>
      <always_on>true</always_on>
      <visualize>true</visualize>
      <update_rate>1000</update_rate>
      <pose>0 0 -0.0565 0 0 0</pose>
      <plugin filename="libgazebo_yarp_forcetorque.so" name="LForearmPlate_FT_plugin">
        <yarpConfigurationFile>model://bigman_urdf/conf/bigman/bigman_gazebo_left_arm_ft.ini</yarpConfigurationFile>
      </plugin>
    </sensor>
  </gazebo>
  <gazebo reference="LAnkLat">
    <sensor name="left_leg" type="force_torque">
      <force_torque>
        <frame>sensor</frame>
        <measure_direction>child_to_parent</measure_direction>
      </force_torque>
      <always_on>true</always_on>
      <visualize>true</visualize>
      <update_rate>1000</update_rate>
      <pose>0.005 0 -0.107 0 0 0</pose>
      <plugin filename="libgazebo_yarp_forcetorque.so" name="LAnkSag_FT_plugin">
        <yarpConfigurationFile>model://bigman_urdf/conf/bigman/bigman_gazebo_left_leg_ft.ini</yarpConfigurationFile>
      </plugin>
    </sensor>
  </gazebo>
  <gazebo reference="RAnkLat">
    <sensor name="right_leg" type="force_torque">
      <force_torque>
        <frame>sensor</frame>
        <measure_direction>child_to_parent</measure_direction>
      </force_torque>
      <always_on>true</always_on>
      <visualize>true</visualize>
      <update_rate>1000</update_rate>
      <pose>0.005 0 -0.107 0 0 0</pose>
      <plugin filename="libgazebo_yarp_forcetorque.so" name="RAnkSag_FT_plugin">
        <yarpConfigurationFile>model://bigman_urdf/conf/bigman/bigman_gazebo_right_leg_ft.ini</yarpConfigurationFile>
      </plugin>
    </sensor>
  </gazebo>
  <gazebo reference="LAnkLat">
    <provideFeedback>true</provideFeedback>
  </gazebo>
  <gazebo>
    <plugin filename="libgazebo_ros_ft_sensor.so" name="LAnkLat_ft_sensor">
      <updateRate>1000.0</updateRate>
      <topicName>/bigman/sensor/ft_sensor/LAnkle</topicName>
      <jointName>LAnkLat</jointName>
    </plugin>
  </gazebo>
  <gazebo reference="RAnkLat">
    <provideFeedback>true</provideFeedback>
  </gazebo>
  <gazebo>
    <plugin filename="libgazebo_ros_ft_sensor.so" name="RAnkLat_ft_sensor">
      <updateRate>1000.0</updateRate>
      <topicName>/bigman/sensor/ft_sensor/RAnkle</topicName>
      <jointName>RAnkLat</jointName>
    </plugin>
  </gazebo>
  <!-- contact model for foot surface -->
  <gazebo reference="LFoot">
    <kp>1000000.0</kp>
    <kd>100.0</kd>
    <mu1>1.0</mu1>
    <mu2>1.0</mu2>
    <fdir1>1 0 0</fdir1>
    <maxVel>1.0</maxVel>
    <minDepth>0.0</minDepth>
    <!--self_collide>true</self_collide-->
  </gazebo>
  <gazebo reference="RFoot">
    <kp>1000000.0</kp>
    <kd>100.0</kd>
    <mu1>1.0</mu1>
    <mu2>1.0</mu2>
    <fdir1>1 0 0</fdir1>
    <maxVel>1.0</maxVel>
    <minDepth>0.0</minDepth>
    <!--self_collide>true</self_collide-->
  </gazebo>
  <gazebo reference="LLowLeg">
    <kp>1000000.0</kp>
    <kd>100.0</kd>
    <mu1>0.3</mu1>
    <mu2>0.3</mu2>
    <fdir1>1 0 0</fdir1>
    <maxVel>1.0</maxVel>
    <minDepth>0.0</minDepth>
  </gazebo>
  <gazebo reference="RLowLeg">
    <kp>1000000.0</kp>
    <kd>100.0</kd>
    <mu1>0.3</mu1>
    <mu2>0.3</mu2>
    <fdir1>1 0 0</fdir1>
    <maxVel>1.0</maxVel>
    <minDepth>0.0</minDepth>
  </gazebo>
  <!-- contact model for hand surface -->
  <gazebo reference="LSoftHand">
    <kp>1000000.0</kp>
    <kd>100.0</kd>
    <mu1>1.0</mu1>
    <mu2>1.0</mu2>
    <fdir1>1 0 0</fdir1>
    <maxVel>1.0</maxVel>
    <minDepth>0.0</minDepth>
  </gazebo>
  <gazebo reference="RSoftHand">
    <kp>1000000.0</kp>
    <kd>100.0</kd>
    <mu1>1.0</mu1>
    <mu2>1.0</mu2>
    <fdir1>1 0 0</fdir1>
    <maxVel>1.0</maxVel>
    <minDepth>0.0</minDepth>
  </gazebo>
  <gazebo reference="LRaisingSupport">
    <kp>1000000.0</kp>
    <kd>100.0</kd>
    <mu1>0.5</mu1>
    <mu2>0.5</mu2>
    <fdir1>1 0 0</fdir1>
    <maxVel>1.0</maxVel>
    <minDepth>0.0</minDepth>
  </gazebo>
  <gazebo reference="RRaisingSupport">
    <kp>1000000.0</kp>
    <kd>100.0</kd>
    <mu1>0.5</mu1>
    <mu2>0.5</mu2>
    <fdir1>1 0 0</fdir1>
    <maxVel>1.0</maxVel>
    <minDepth>0.0</minDepth>
  </gazebo>
  <!-- Other parameters... -->
  <gazebo reference="RHipSag">
    <implicitSpringDamper>1</implicitSpringDamper>
    <provideFeedback>true</provideFeedback>
  </gazebo>
  <gazebo reference="RHipLat">
    <implicitSpringDamper>1</implicitSpringDamper>
    <provideFeedback>true</provideFeedback>
  </gazebo>
  <gazebo reference="RHipYaw">
    <implicitSpringDamper>1</implicitSpringDamper>
    <provideFeedback>true</provideFeedback>
  </gazebo>
  <gazebo reference="RKneeSag">
    <implicitSpringDamper>1</implicitSpringDamper>
    <provideFeedback>true</provideFeedback>
  </gazebo>
  <gazebo reference="RAnkLat">
    <implicitSpringDamper>1</implicitSpringDamper>
    <provideFeedback>true</provideFeedback>
  </gazebo>
  <gazebo reference="RAnkSag">
    <implicitSpringDamper>1</implicitSpringDamper>
    <provideFeedback>true</provideFeedback>
  </gazebo>
  <gazebo reference="LHipSag">
    <implicitSpringDamper>1</implicitSpringDamper>
    <provideFeedback>true</provideFeedback>
  </gazebo>
  <gazebo reference="LHipLat">
    <implicitSpringDamper>1</implicitSpringDamper>
    <provideFeedback>true</provideFeedback>
  </gazebo>
  <gazebo reference="LHipYaw">
    <implicitSpringDamper>1</implicitSpringDamper>
    <provideFeedback>true</provideFeedback>
  </gazebo>
  <gazebo reference="LKneeSag">
    <implicitSpringDamper>1</implicitSpringDamper>
    <provideFeedback>true</provideFeedback>
  </gazebo>
  <gazebo reference="LAnkLat">
    <implicitSpringDamper>1</implicitSpringDamper>
    <provideFeedback>true</provideFeedback>
  </gazebo>
  <gazebo reference="LAnkSag">
    <implicitSpringDamper>1</implicitSpringDamper>
    <provideFeedback>true</provideFeedback>
  </gazebo>
  <gazebo reference="WaistSag">
    <implicitSpringDamper>1</implicitSpringDamper>
    <provideFeedback>true</provideFeedback>
  </gazebo>
  <gazebo reference="WaistLat">
    <implicitSpringDamper>1</implicitSpringDamper>
    <provideFeedback>true</provideFeedback>
  </gazebo>
  <gazebo reference="WaistYaw">
    <implicitSpringDamper>1</implicitSpringDamper>
    <provideFeedback>true</provideFeedback>
  </gazebo>
  <gazebo reference="RShSag">
    <implicitSpringDamper>1</implicitSpringDamper>
    <provideFeedback>true</provideFeedback>
  </gazebo>
  <gazebo reference="RShLat">
    <implicitSpringDamper>1</implicitSpringDamper>
    <provideFeedback>true</provideFeedback>
  </gazebo>
  <gazebo reference="RShYaw">
    <implicitSpringDamper>1</implicitSpringDamper>
    <provideFeedback>true</provideFeedback>
  </gazebo>
  <gazebo reference="RElbj">
    <implicitSpringDamper>1</implicitSpringDamper>
    <provideFeedback>true</provideFeedback>
  </gazebo>
  <gazebo reference="RForearmPlate">
    <implicitSpringDamper>1</implicitSpringDamper>
    <provideFeedback>true</provideFeedback>
  </gazebo>
  <gazebo reference="RWrj1">
    <implicitSpringDamper>1</implicitSpringDamper>
    <provideFeedback>true</provideFeedback>
  </gazebo>
  <gazebo reference="RWrj2">
    <implicitSpringDamper>1</implicitSpringDamper>
    <provideFeedback>true</provideFeedback>
  </gazebo>
  <gazebo reference="LShSag">
    <implicitSpringDamper>1</implicitSpringDamper>
    <provideFeedback>true</provideFeedback>
  </gazebo>
  <gazebo reference="LShLat">
    <implicitSpringDamper>1</implicitSpringDamper>
    <provideFeedback>true</provideFeedback>
  </gazebo>
  <gazebo reference="LShYaw">
    <implicitSpringDamper>1</implicitSpringDamper>
    <provideFeedback>true</provideFeedback>
  </gazebo>
  <gazebo reference="LElbj">
    <implicitSpringDamper>1</implicitSpringDamper>
    <provideFeedback>true</provideFeedback>
  </gazebo>
  <gazebo reference="LForearmPlate">
    <implicitSpringDamper>1</implicitSpringDamper>
    <provideFeedback>true</provideFeedback>
  </gazebo>
  <gazebo reference="LWrj1">
    <implicitSpringDamper>1</implicitSpringDamper>
    <provideFeedback>true</provideFeedback>
  </gazebo>
  <gazebo reference="LWrj2">
    <implicitSpringDamper>1</implicitSpringDamper>
    <provideFeedback>true</provideFeedback>
  </gazebo>
  <!-- gazebo_ros_bumper plugin -->
  <gazebo reference="RFoot">
    <sensor name="box_bumper_sensor" type="contact">
      <always_on>true</always_on>
      <update_rate>50</update_rate>
      <contact>
        <collision>RFoot_collision</collision>
      </contact>
      <plugin filename="libgazebo_ros_bumper.so" name="RFoot_bumper_plugin">
        <bumperTopicName>/bigman/sensor/bumper/RFoot_bumper</bumperTopicName>
        <frameName>base_link</frameName>
      </plugin>
    </sensor>
  </gazebo>
  <!-- gazebo_ros_bumper plugin -->
  <gazebo reference="LFoot">
    <sensor name="box_bumper_sensor" type="contact">
      <always_on>true</always_on>
      <update_rate>50</update_rate>
      <contact>
        <collision>LFoot_collision</collision>
      </contact>
      <plugin filename="libgazebo_ros_bumper.so" name="LFoot_bumper_plugin">
        <bumperTopicName>/bigman/sensor/bumper/LFoot_bumper</bumperTopicName>
        <frameName>base_link</frameName>
      </plugin>
    </sensor>
  </gazebo>
  <gazebo reference="base_link">
    <material>Gazebo/Grey</material>
  </gazebo>
  <gazebo reference="DWL">
    <material>Gazebo/DarkGrey</material>
  </gazebo>
  <gazebo reference="DWS">
    <material>Gazebo/DarkGrey</material>
  </gazebo>
  <gazebo reference="DWYTorso">
    <material>Gazebo/Blue</material>
  </gazebo>
  <gazebo reference="RShp">
    <material>Gazebo/DarkGrey</material>
  </gazebo>
  <gazebo reference="RShr">
    <material>Gazebo/DarkGrey</material>
  </gazebo>
  <gazebo reference="RShy">
    <material>Gazebo/DarkGrey</material>
  </gazebo>
  <gazebo reference="RElb">
    <material>Gazebo/DarkGrey</material>
  </gazebo>
  <gazebo reference="RForearm">
    <material>Gazebo/DarkGrey</material>
  </gazebo>
  <gazebo reference="RWrMot2">
    <material>Gazebo/DarkGrey</material>
  </gazebo>
  <gazebo reference="RWrMot3">
    <material>Gazebo/Blue</material>
  </gazebo>
  <gazebo reference="RRaisingSupport">
    <material>Gazebo/DarkGrey</material>
  </gazebo>
  <gazebo reference="RSoftHand">
    <material>Gazebo/Black</material>
  </gazebo>
  <gazebo reference="LShp">
    <material>Gazebo/DarkGrey</material>
  </gazebo>
  <gazebo reference="LShr">
    <material>Gazebo/DarkGrey</material>
  </gazebo>
  <gazebo reference="LShy">
    <material>Gazebo/DarkGrey</material>
  </gazebo>
  <gazebo reference="LElb">
    <material>Gazebo/DarkGrey</material>
  </gazebo>
  <gazebo reference="LForearm">
    <material>Gazebo/DarkGrey</material>
  </gazebo>
  <gazebo reference="LWrMot2">
    <material>Gazebo/DarkGrey</material>
  </gazebo>
  <gazebo reference="LWrMot3">
    <material>Gazebo/Blue</material>
  </gazebo>
  <gazebo reference="LRaisingSupport">
    <material>Gazebo/DarkGrey</material>
  </gazebo>
  <gazebo reference="LSoftHand">
    <material>Gazebo/Black</material>
  </gazebo>
  <gazebo reference="RHipMot">
    <material>Gazebo/DarkGrey</material>
  </gazebo>
  <gazebo reference="RThighUpLeg">
    <material>Gazebo/DarkGrey</material>
  </gazebo>
  <gazebo reference="RThighLowLeg">
    <material>Gazebo/Grey</material>
  </gazebo>
  <gazebo reference="RLowLeg">
    <material>Gazebo/DarkGrey</material>
  </gazebo>
  <gazebo reference="RFootmot">
    <material>Gazebo/DarkGrey</material>
  </gazebo>
  <gazebo reference="RFoot">
    <material>Gazebo/DarkGrey</material>
  </gazebo>
  <gazebo reference="LHipMot">
    <material>Gazebo/DarkGrey</material>
  </gazebo>
  <gazebo reference="LThighUpLeg">
    <material>Gazebo/DarkGrey</material>
  </gazebo>
  <gazebo reference="LThighLowLeg">
    <material>Gazebo/Grey</material>
  </gazebo>
  <gazebo reference="LLowLeg">
    <material>Gazebo/DarkGrey</material>
  </gazebo>
  <gazebo reference="LFootmot">
    <material>Gazebo/DarkGrey</material>
  </gazebo>
  <gazebo reference="LFoot">
    <material>Gazebo/DarkGrey</material>
  </gazebo>
  <gazebo reference="head">
    <material>Gazebo/DarkGrey</material>
  </gazebo>
  <gazebo reference="hokuyo_link">
    <material>Gazebo/Black</material>
  </gazebo>
  <gazebo reference="NeckYaw">
    <material>Gazebo/Grey</material>
  </gazebo>
  <gazebo reference="NeckPitch">
    <material>Gazebo/Grey</material>
  </gazebo>
</robot>
